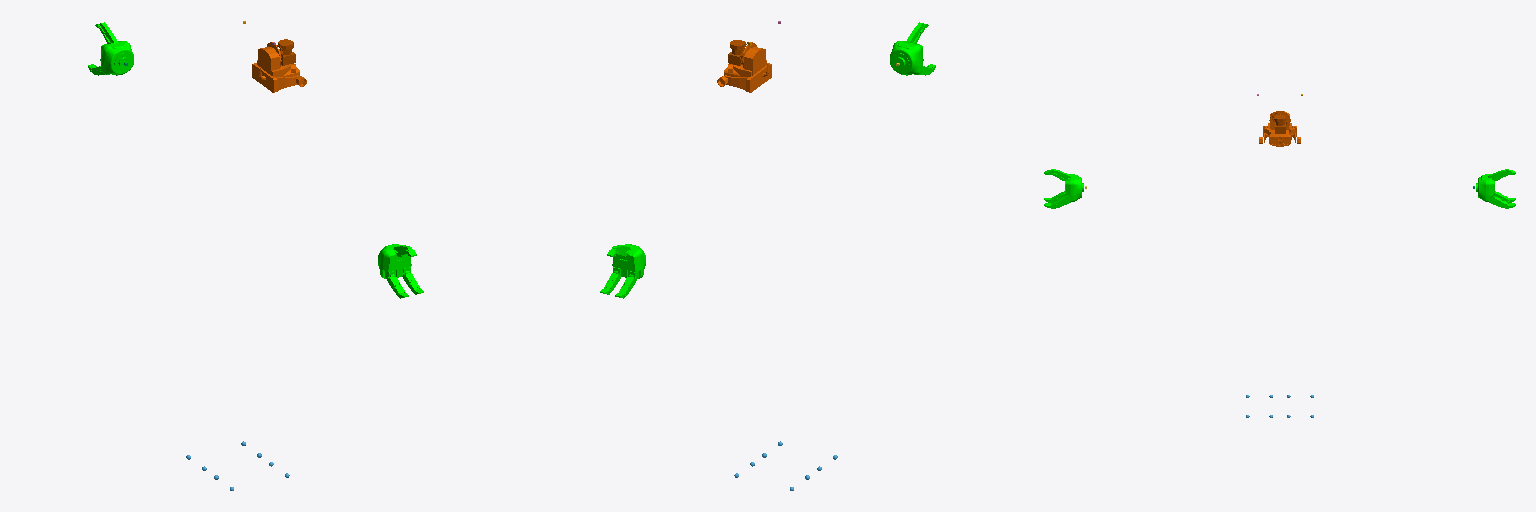
--- Render facts (derived) ---
The picture shows the robot from 3 angles, left to right: view 1: azimuth 30°, elevation 25°; view 2: azimuth 150°, elevation 25°; view 3: azimuth 270°, elevation 25°; orthographic projection.
Model atlas with 94 links and 93 joints (30 revolute, 63 fixed), rooted at pelvis, posed every joint at zero.
Visible links, largest first — view 1: head, left_palm, right_palm; view 2: head, right_palm, left_palm; view 3: head.
Link boxes in pixels (box(x1,y1,x2,y2)): head: box(252, 42, 306, 92); left_palm: box(100, 41, 133, 75); right_palm: box(378, 244, 411, 278); head: box(717, 42, 771, 92); right_palm: box(890, 41, 923, 75); left_palm: box(612, 244, 645, 278); head: box(1259, 111, 1300, 146).
Size in the robot's own frame: 0.3996 by 2.59 by 1.95 metres.
Meshes: 29 distinct files referenced, 28 mesh visuals loaded (7 OBJ); not drawn: 28 (reference not matched to a file when rendering).

The robot description file, URDF, robot "atlas":
<?xml version="1.0" ?>
<!-- =================================================================================== -->
<!-- |    This document was autogenerated by xacro from atlas_v5_convex_hull_fingers.xacro | -->
<!-- |    EDITING THIS FILE BY HAND IS NOT RECOMMENDED                                 | -->
<!-- =================================================================================== -->
<robot name="atlas" xmlns:xacro="http://ros.org/wiki/xacro">
  <link name="l_clav">
    <inertial>
      <mass value="4.466"/>
      <origin rpy="0 0 0" xyz="0 0 -0.084"/>
      <inertia ixx="0.011" ixy="0" ixz="0" iyy="0.009" iyz="0.004" izz="0.004"/>
    </inertial>
    <visual>
      <geometry>
        <mesh filename="package://atlas_v5/meshes/r_clav.obj"/>
      </geometry>
    </visual>
    <collision>
      <geometry>
        <mesh filename="package://atlas_v5/meshes/r_clav.obj"/>
      </geometry>
    </collision>
  </link>
  <link name="l_foot">
    <inertial>
      <mass value="2.410"/>
      <origin rpy="0 0 0" xyz="0.027 0 -0.067"/>
      <inertia ixx="0.002" ixy="0" ixz="0" iyy="0.007" iyz="0" izz="0.008"/>
    </inertial>
    <visual>
      <geometry>
        <mesh filename="package://atlas_v5/meshes/l_foot.obj"/>
      </geometry>
    </visual>
    <collision>
      <geometry>
        <mesh filename="package://atlas_v5/meshes/l_foot.obj"/>
      </geometry>
    </collision>
    <collision group="heel">
      <origin rpy="0 0 0" xyz="-0.0876 0.066 -0.07645"/>
      <geometry>
        <sphere radius="0.0"/>
      </geometry>
    </collision>
    <visual group="heel">
      <origin rpy="0 0 0" xyz="-0.0876 0.066 -0.07645"/>
      <geometry>
        <sphere radius="0.01"/>
      </geometry>
    </visual>
    <collision group="heel">
      <origin rpy="0 0 0" xyz="-0.0876 -0.0626 -0.07645"/>
      <geometry>
        <sphere radius="0.0"/>
      </geometry>
    </collision>
    <visual group="heel">
      <origin rpy="0 0 0" xyz="-0.0876 -0.0626 -0.07645"/>
      <geometry>
        <sphere radius="0.01"/>
      </geometry>
    </visual>
    <collision group="toe">
      <origin rpy="0 0 0" xyz="0.1728 0.066 -0.07645"/>
      <geometry>
        <sphere radius="0.0"/>
      </geometry>
    </collision>
    <visual group="toe">
      <origin rpy="0 0 0" xyz="0.1728 0.066 -0.07645"/>
      <geometry>
        <sphere radius="0.01"/>
      </geometry>
    </visual>
    <collision group="toe">
      <origin rpy="0 0 0" xyz="0.1728 -0.0626 -0.07645"/>
      <geometry>
        <sphere radius="0.0"/>
      </geometry>
    </collision>
    <visual group="toe">
      <origin rpy="0 0 0" xyz="0.1728 -0.0626 -0.07645"/>
      <geometry>
        <sphere radius="0.01"/>
      </geometry>
    </visual>
  </link>
  <link name="l_hand">
    <inertial>
      <mass value="0.5839"/>
      <origin rpy="0 0 0" xyz="0.00016 -0.08159 0.00002"/>
      <inertia ixx="0.000388" ixy="0" ixz="0" iyy="0.000477" iyz="0" izz="0.000379"/>
    </inertial>
  </link>
  <link name="l_larm">
    <inertial>
      <mass value="3.248"/>
      <origin rpy="0 0 0" xyz="0 0 0"/>
      <inertia ixx="0.00265" ixy="0" ixz="0" iyy="0.00446" iyz="0" izz="0.00446"/>
    </inertial>
    <visual>
      <geometry>
        <mesh filename="package://atlas_v5/meshes/r_larm.obj"/>
      </geometry>
    </visual>
    <collision>
      <geometry>
        <mesh filename="package://atlas_v5/meshes/r_larm.obj"/>
      </geometry>
    </collision>
  </link>
  <link name="l_lfarm">
    <inertial>
      <mass value="0.648"/>
      <origin rpy="0 0 0" xyz="0.00017 -0.02515 0.00163"/>
      <inertia ixx="0.000764" ixy="0" ixz="0" iyy="0.000429" iyz="0" izz="0.000825"/>
    </inertial>
    <visual>
      <geometry>
        <mesh filename="package://atlas_v5/meshes/r_hand.obj"/>
      </geometry>
    </visual>
    <collision>
      <geometry>
        <mesh filename="package://atlas_v5/meshes/r_hand.obj"/>
      </geometry>
    </collision>
  </link>
  <link name="l_lglut">
    <inertial>
      <mass value="0.898"/>
      <origin rpy="0 0 0" xyz="0.0133341 0.0170484 -0.0312052"/>
      <inertia ixx="0.000691326" ixy="-2.24344e-05" ixz="2.50508e-06" iyy="0.00126856" iyz="0.000137862" izz="0.00106487"/>
    </inertial>
    <visual>
      <geometry>
        <mesh filename="package://atlas_v5/meshes/l_lglut.obj"/>
      </geometry>
    </visual>
    <collision>
      <geometry>
        <mesh filename="package://atlas_v5/meshes/l_lglut.obj"/>
      </geometry>
    </collision>
  </link>
  <link name="l_lleg">
    <inertial>
      <mass value="4.515"/>
      <origin rpy="0 0 0" xyz="0.001 0 -0.187"/>
      <inertia ixx="0.077" ixy="0" ixz="-0.003" iyy="0.076" iyz="0" izz="0.01"/>
    </inertial>
    <visual>
      <geometry>
        <mesh filename="package://atlas_v5/meshes/l_lleg.obj"/>
      </geometry>
    </visual>
    <collision>
      <geometry>
        <mesh filename="package://atlas_v5/meshes/l_lleg.obj"/>
      </geometry>
    </collision>
  </link>
  <link name="l_scap">
    <inertial>
      <mass value="3.899"/>
      <origin rpy="0 0 0" xyz="0 0 0"/>
      <inertia ixx="0.00319" ixy="0" ixz="0" iyy="0.00583" iyz="0" izz="0.00583"/>
    </inertial>
    <visual>
      <geometry>
        <mesh filename="package://atlas_v5/meshes/r_scap.obj"/>
      </geometry>
    </visual>
    <collision>
      <geometry>
        <mesh filename="package://atlas_v5/meshes/r_scap.obj"/>
      </geometry>
    </collision>
  </link>
  <link name="l_talus">
    <inertial>
      <mass value="0.125"/>
      <origin rpy="0 0 0" xyz="0 0 0"/>
      <inertia ixx="1.01674e-05" ixy="0" ixz="0" iyy="8.42775e-06" iyz="0" izz="1.30101e-05"/>
    </inertial>
    <visual>
      <geometry>
        <mesh filename="package://atlas_v5/meshes/l_talus.obj"/>
      </geometry>
    </visual>
  </link>
  <link name="l_uarm">
    <inertial>
      <mass value="4.386"/>
      <origin rpy="0 0 0" xyz="0 0.065 0"/>
      <inertia ixx="0.00656" ixy="0" ixz="0" iyy="0.00358" iyz="0" izz="0.00656"/>
    </inertial>
    <visual>
      <geometry>
        <mesh filename="package://atlas_v5/meshes/r_uarm.obj"/>
      </geometry>
    </visual>
    <collision>
      <geometry>
        <mesh filename="package://atlas_v5/meshes/r_uarm.obj"/>
      </geometry>
    </collision>
  </link>
  <link name="l_ufarm">
    <inertial>
      <mass value="2.4798"/>
      <origin rpy="0 0 0" xyz="0.00015 0.08296 0.00037"/>
      <inertia ixx="0.012731" ixy="0" ixz="0" iyy="0.002857" iyz="0" izz="0.011948"/>
    </inertial>
    <visual>
      <geometry>
        <mesh filename="package://atlas_v5/meshes/r_farm.obj"/>
      </geometry>
    </visual>
    <collision>
      <geometry>
        <mesh filename="package://atlas_v5/meshes/r_farm.obj"/>
      </geometry>
    </collision>
  </link>
  <link name="l_uglut">
    <inertial>
      <mass value="1.959"/>
      <origin rpy="0 0 0" xyz="0.00529262 -0.00344732 0.00313046"/>
      <inertia ixx="0.00074276" ixy="-3.79607e-08" ixz="-2.79549e-05" iyy="0.000688179" iyz="-3.2735e-08" izz="0.00041242"/>
    </inertial>
    <visual>
      <geometry>
        <mesh filename="package://atlas_v5/meshes/l_uglut.obj"/>
      </geometry>
    </visual>
    <collision>
      <geometry>
        <mesh filename="package://atlas_v5/meshes/l_uglut.obj"/>
      </geometry>
    </collision>
  </link>
  <link name="l_uleg">
    <inertial>
      <mass value="8.204"/>
      <origin rpy="0 0 0" xyz="0 0 -0.21"/>
      <inertia ixx="0.09" ixy="0" ixz="0" iyy="0.09" iyz="0" izz="0.02"/>
    </inertial>
    <visual>
      <geometry>
        <mesh filename="package://atlas_v5/meshes/l_uleg.obj"/>
      </geometry>
    </visual>
    <!-- to cover the logo shield -->
    <!-- inside strut -->
    <!-- outside strut -->
    <collision>
      <geometry>
        <mesh filename="package://atlas_v5/meshes/l_uleg.obj"/>
      </geometry>
    </collision>
  </link>
  <link name="ltorso">
    <inertial>
      <mass value="2.270"/>
      <origin rpy="0 0 0" xyz="-0.0112984 -3.15366e-06 0.0746835"/>
      <inertia ixx="0.0039092" ixy="-5.04491e-08" ixz="-0.000342157" iyy="0.00341694" iyz="4.87119e-07" izz="0.00174492"/>
    </inertial>
    <visual>
      <geometry>
        <mesh filename="package://atlas_v5/meshes/ltorso.obj"/>
      </geometry>
    </visual>
  </link>
  <link name="mtorso">
    <inertial>
      <mass value="0.799"/>
      <origin rpy="0 0 0" xyz="-0.00816266 -0.0131245 0.0305974"/>
      <inertia ixx="0.000454181" ixy="-6.10764e-05" ixz="3.94009e-05" iyy="0.000483282" iyz="5.27463e-05" izz="0.000444215"/>
    </inertial>
    <visual>
      <geometry>
        <mesh filename="package://atlas_v5/meshes/mtorso.obj"/>
      </geometry>
    </visual>
  </link>
  <link name="pelvis">
    <inertial>
      <mass value="9.509"/>
      <origin rpy="0 0 0" xyz="0.0111 0 0.0271"/>
      <inertia ixx="0.1244" ixy="0.0008" ixz="-0.0007" iyy="0.0958" iyz="-0.0005" izz="0.1167"/>
    </inertial>
    <visual>
      <geometry>
        <mesh filename="package://atlas_v5/meshes/pelvis.obj"/>
      </geometry>
    </visual>
    <collision>
      <geometry>
        <mesh filename="package://atlas_v5/meshes/pelvis.obj"/>
      </geometry>
    </collision>
  </link>
  <link name="r_clav">
    <inertial>
      <mass value="4.466"/>
      <origin rpy="0 0 0" xyz="0 0 -0.084"/>
      <inertia ixx="0.011" ixy="0" ixz="0" iyy="0.009" iyz="0.004" izz="0.004"/>
    </inertial>
    <visual>
      <geometry>
        <mesh filename="package://atlas_v5/meshes/r_clav.obj"/>
      </geometry>
    </visual>
    <collision>
      <geometry>
        <mesh filename="package://atlas_v5/meshes/r_clav.obj"/>
      </geometry>
    </collision>
  </link>
  <link name="r_foot">
    <inertial>
      <mass value="2.41"/>
      <origin rpy="0 0 0" xyz="0.027 0 -0.067"/>
      <inertia ixx="0.002" ixy="0" ixz="0" iyy="0.007" iyz="0" izz="0.008"/>
    </inertial>
    <visual>
      <geometry>
        <mesh filename="package://atlas_v5/meshes/r_foot.obj"/>
      </geometry>
    </visual>
    <collision>
      <geometry>
        <mesh filename="package://atlas_v5/meshes/r_foot.obj"/>
      </geometry>
    </collision>
    <collision group="heel">
      <origin rpy="0 0 0" xyz="-0.0876 0.0626 -0.07645"/>
      <geometry>
        <sphere radius="0.0"/>
      </geometry>
    </collision>
    <visual group="heel">
      <origin rpy="0 0 0" xyz="-0.0876 0.0626 -0.07645"/>
      <geometry>
        <sphere radius="0.01"/>
      </geometry>
    </visual>
    <collision group="heel">
      <origin rpy="0 0 0" xyz="-0.0876 -0.066 -0.07645"/>
      <geometry>
        <sphere radius="0.0"/>
      </geometry>
    </collision>
    <visual group="heel">
      <origin rpy="0 0 0" xyz="-0.0876 -0.066 -0.07645"/>
      <geometry>
        <sphere radius="0.01"/>
      </geometry>
    </visual>
    <collision group="toe">
      <origin rpy="0 0 0" xyz="0.1728 0.0626 -0.07645"/>
      <geometry>
        <sphere radius="0.0"/>
      </geometry>
    </collision>
    <visual group="toe">
      <origin rpy="0 0 0" xyz="0.1728 0.0626 -0.07645"/>
      <geometry>
        <sphere radius="0.01"/>
      </geometry>
    </visual>
    <collision group="toe">
      <origin rpy="0 0 0" xyz="0.1728 -0.066 -0.07645"/>
      <geometry>
        <sphere radius="0.0"/>
      </geometry>
    </collision>
    <visual group="toe">
      <origin rpy="0 0 0" xyz="0.1728 -0.066 -0.07645"/>
      <geometry>
        <sphere radius="0.01"/>
      </geometry>
    </visual>
  </link>
  <link name="r_hand">
    <inertial>
      <mass value="0.5839"/>
      <origin rpy="0 0 0" xyz="0.00016 -0.08159 0.00002"/>
      <inertia ixx="0.000388" ixy="0" ixz="0" iyy="0.000477" iyz="0" izz="0.000379"/>
    </inertial>
  </link>
  <link name="r_larm">
    <inertial>
      <mass value="3.248"/>
      <origin rpy="0 0 0" xyz="0 0 0"/>
      <inertia ixx="0.00265" ixy="0" ixz="0" iyy="0.00446" iyz="0" izz="0.00446"/>
    </inertial>
    <visual>
      <geometry>
        <mesh filename="package://atlas_v5/meshes/r_larm.obj"/>
      </geometry>
    </visual>
    <collision>
      <geometry>
        <mesh filename="package://atlas_v5/meshes/r_larm.obj"/>
      </geometry>
    </collision>
  </link>
  <link name="r_lfarm">
    <inertial>
      <mass value="0.648"/>
      <origin rpy="0 0 0" xyz="0.00017 -0.02515 0.00163"/>
      <inertia ixx="0.000764" ixy="0" ixz="0" iyy="0.000429" iyz="0" izz="0.000825"/>
    </inertial>
    <visual>
      <geometry>
        <mesh filename="package://atlas_v5/meshes/r_hand.obj"/>
      </geometry>
    </visual>
    <collision>
      <geometry>
        <mesh filename="package://atlas_v5/meshes/r_hand.obj"/>
      </geometry>
    </collision>
  </link>
  <link name="r_lglut">
    <inertial>
      <mass value="0.898"/>
      <origin rpy="0 0 0" xyz="0.0133341 -0.0170484 -0.0312052"/>
      <inertia ixx="0.000691326" ixy="2.24344e-05" ixz="2.50508e-06" iyy="0.00126856" iyz="-0.000137862" izz="0.00106487"/>
    </inertial>
    <visual>
      <geometry>
        <mesh filename="package://atlas_v5/meshes/r_lglut.obj"/>
      </geometry>
    </visual>
    <collision>
      <geometry>
        <mesh filename="package://atlas_v5/meshes/r_lglut.obj"/>
      </geometry>
    </collision>
  </link>
  <link name="r_lleg">
    <inertial>
      <mass value="4.515"/>
      <origin rpy="0 0 0" xyz="0.001 0 -0.187"/>
      <inertia ixx="0.077" ixy="-0" ixz="-0.003" iyy="0.076" iyz="-0" izz="0.01"/>
    </inertial>
    <visual>
      <geometry>
        <mesh filename="package://atlas_v5/meshes/r_lleg.obj"/>
      </geometry>
    </visual>
    <collision>
      <geometry>
        <mesh filename="package://atlas_v5/meshes/r_lleg.obj"/>
      </geometry>
    </collision>
  </link>
  <link name="r_scap">
    <inertial>
      <mass value="3.899"/>
      <origin rpy="0 0 0" xyz="0 0 0"/>
      <inertia ixx="0.00319" ixy="0" ixz="0" iyy="0.00583" iyz="0" izz="0.00583"/>
    </inertial>
    <visual>
      <geometry>
        <mesh filename="package://atlas_v5/meshes/r_scap.obj"/>
      </geometry>
    </visual>
    <collision>
      <geometry>
        <mesh filename="package://atlas_v5/meshes/r_scap.obj"/>
      </geometry>
    </collision>
  </link>
  <link name="r_talus">
    <inertial>
      <mass value="0.125"/>
      <origin rpy="0 0 0" xyz="0 0 0"/>
      <inertia ixx="1.01674e-05" ixy="0" ixz="0" iyy="8.42775e-06" iyz="0" izz="1.30101e-05"/>
    </inertial>
    <visual>
      <geometry>
        <mesh filename="package://atlas_v5/meshes/r_talus.obj"/>
      </geometry>
    </visual>
  </link>
  <link name="r_uarm">
    <inertial>
      <mass value="4.386"/>
      <origin rpy="0 0 0" xyz="0 0.065 0"/>
      <inertia ixx="0.00656" ixy="0" ixz="0" iyy="0.00358" iyz="0" izz="0.00656"/>
    </inertial>
    <visual>
      <geometry>
        <mesh filename="package://atlas_v5/meshes/r_uarm.obj"/>
      </geometry>
    </visual>
    <collision>
      <geometry>
        <mesh filename="package://atlas_v5/meshes/r_uarm.obj"/>
      </geometry>
    </collision>
  </link>
  <link name="r_ufarm">
    <inertial>
      <mass value="2.4798"/>
      <origin rpy="0 0 0" xyz="0.00015 0.08296 0.00037"/>
      <inertia ixx="0.012731" ixy="0" ixz="0" iyy="0.002857" iyz="0" izz="0.011948"/>
    </inertial>
    <visual>
      <geometry>
        <mesh filename="package://atlas_v5/meshes/r_farm.obj"/>
      </geometry>
    </visual>
    <collision>
      <geometry>
        <mesh filename="package://atlas_v5/meshes/r_farm.obj"/>
      </geometry>
    </collision>
  </link>
  <link name="r_uglut">
    <inertial>
      <mass value="1.959"/>
      <origin rpy="0 0 0" xyz="0.00529262 0.00344732 0.00313046"/>
      <inertia ixx="0.00074276" ixy="3.79607e-08" ixz="-2.79549e-05" iyy="0.000688179" iyz="3.2735e-08" izz="0.00041242"/>
    </inertial>
    <visual>
      <geometry>
        <mesh filename="package://atlas_v5/meshes/r_uglut.obj"/>
      </geometry>
    </visual>
    <collision>
      <geometry>
        <mesh filename="package://atlas_v5/meshes/r_uglut.obj"/>
      </geometry>
    </collision>
  </link>
  <link name="r_uleg">
    <inertial>
      <mass value="8.204"/>
      <origin rpy="0 0 0" xyz="0 0 -0.21"/>
      <inertia ixx="0.09" ixy="0" ixz="0" iyy="0.09" iyz="0" izz="0.02"/>
    </inertial>
    <visual>
      <geometry>
        <mesh filename="package://atlas_v5/meshes/r_uleg.obj"/>
      </geometry>
    </visual>
    <!-- to cover the logo shield -->
    <!-- inside strut -->
    <!-- outside strut -->
    <collision>
      <geometry>
        <mesh filename="package://atlas_v5/meshes/r_uleg.obj"/>
      </geometry>
    </collision>
  </link>
  <link name="utorso">
    <inertial>
      <mass value="84.409"/>
      <origin rpy="0 0 0" xyz="-0.0622 0.0023 0.3157"/>
      <inertia ixx="1.577" ixy="-0.032" ixz="0.102" iyy="1.602" iyz="0.047" izz="0.565"/>
    </inertial>
    <visual>
      <geometry>
        <mesh filename="package://atlas_v5/meshes/utorso.obj"/>
      </geometry>
    </visual>
    <collision>
      <geometry>
        <mesh filename="package://atlas_v5/meshes/utorso.obj"/>
      </geometry>
    </collision>
  </link>
  <joint name="back_bkx" type="revolute">
    <origin rpy="0 0 0" xyz="0 0 0.05"/>
    <axis xyz="1 0 0"/>
    <parent link="mtorso"/>
    <child link="utorso"/>
    <dynamics damping="0.1" friction="0"/>
    <limit effort="300" lower="-0.523599" upper="0.523599" velocity="12"/>
    <safety_controller k_position="100" k_velocity="100" soft_lower_limit="-10.5236" soft_upper_limit="10.5236"/>
  </joint>
  <joint name="back_bky" type="revolute">
    <origin rpy="0 0 0" xyz="0 0 0.162"/>
    <axis xyz="0 1 0"/>
    <parent link="ltorso"/>
    <child link="mtorso"/>
    <dynamics damping="0.1" friction="0"/>
    <limit effort="445" lower="-0.219388" upper="0.538783" velocity="9"/>
    <safety_controller k_position="100" k_velocity="100" soft_lower_limit="-10.2194" soft_upper_limit="10.5388"/>
  </joint>
  <joint name="back_bkz" type="revolute">
    <origin rpy="0 0 0" xyz="-0.0125 0 0"/>
    <axis xyz="0 0 1"/>
    <parent link="pelvis"/>
    <child link="ltorso"/>
    <dynamics damping="0.1" friction="0"/>
    <limit effort="106" lower="-0.663225" upper="0.663225" velocity="12"/>
    <safety_controller k_position="100" k_velocity="100" soft_lower_limit="-10.6632" soft_upper_limit="10.6632"/>
  </joint>
  <joint name="l_arm_elx" type="revolute">
    <origin rpy="0 0 0" xyz="0 -0.119 0.0092"/>
    <axis xyz="-1.0 -0.0 -0.0"/>
    <parent link="l_uarm"/>
    <child link="l_larm"/>
    <dynamics damping="0.1" friction="0"/>
    <limit effort="112" lower="0" upper="2.35619" velocity="12"/>
    <safety_controller k_position="100" k_velocity="100" soft_lower_limit="-10" soft_upper_limit="12.3562"/>
  </joint>
  <joint name="l_arm_ely" type="revolute">
    <origin rpy="0 0 0" xyz="0 -0.187 -0.016"/>
    <axis xyz="-0.0 -1.0 -0.0"/>
    <parent link="l_scap"/>
    <child link="l_uarm"/>
    <dynamics damping="0.1" friction="0"/>
    <limit effort="63" lower="0" upper="3.14159" velocity="12"/>
    <safety_controller k_position="100" k_velocity="100" soft_lower_limit="-10" soft_upper_limit="13.1416"/>
  </joint>
  <joint name="l_arm_shx" type="revolute">
    <origin rpy="0 0 0" xyz="0 -0.11 -0.245"/>
    <axis xyz="-1.0 -0.0 -0.0"/>
    <parent link="l_clav"/>
    <child link="l_scap"/>
    <dynamics damping="0.1" friction="0"/>
    <limit effort="99" lower="-1.5708" upper="1.5708" velocity="12"/>
    <safety_controller k_position="100" k_velocity="100" soft_lower_limit="-11.5708" soft_upper_limit="11.5708"/>
  </joint>
  <joint name="l_arm_shz" type="revolute">
    <origin rpy="0 0 3.14159265359" xyz="0.1406 0.2256 0.4776"/>
    <axis xyz="0 0 1"/>
    <parent link="utorso"/>
    <child link="l_clav"/>
    <dynamics damping="0.1" friction="0"/>
    <limit effort="87" lower="-1.5708" upper="0.785398" velocity="12"/>
    <safety_controller k_position="100" k_velocity="100" soft_lower_limit="-11.5708" soft_upper_limit="10.7854"/>
  </joint>
  <joint name="l_arm_mwx" type="revolute">
    <origin rpy="0 0 0" xyz="0 0 0"/>
    <axis xyz="1 0 0"/>
    <parent link="l_ufarm"/>
    <child link="l_lfarm"/>
    <dynamics damping="0.1" friction="0"/>
    <limit effort="25" lower="-1.7628" upper="1.7628" velocity="10"/>
    <safety_controller k_position="100" k_velocity="100" soft_lower_limit="-11.7628" soft_upper_limit="11.7628"/>
  </joint>
  <joint name="l_arm_uwy" type="revolute">
    <origin rpy="0 3.14159265359 0" xyz="0 -0.29955 -0.00921"/>
    <axis xyz="-0.0 -1.0 -0.0"/>
    <parent link="l_larm"/>
    <child link="l_ufarm"/>
    <dynamics damping="0.1" friction="0"/>
    <limit effort="25" lower="-3.011" upper="3.011" velocity="10"/>
    <safety_controller k_position="100" k_velocity="100" soft_lower_limit="-13.011" soft_upper_limit="13.011"/>
  </joint>
  <joint name="l_arm_lwy" type="revolute">
    <origin rpy="0 3.14159265359 0" xyz="0 0 0"/>
    <axis xyz="-0.0 -1.0 -0.0"/>
    <parent link="l_lfarm"/>
    <child link="l_hand"/>
    <dynamics damping="0.1" friction="0"/>
    <limit effort="25" lower="-2.9671" upper="2.9671" velocity="10"/>
    <safety_controller k_position="100" k_velocity="100" soft_lower_limit="-12.9671" soft_upper_limit="12.9671"/>
  </joint>
  <joint name="l_leg_akx" type="revolute">
    <origin rpy="0 0 0" xyz="0 0 0"/>
    <axis xyz="1 0 0"/>
    <parent link="l_talus"/>
    <child link="l_foot"/>
    <dynamics damping="0.1" friction="0"/>
    <limit effort="360" lower="-0.8" upper="0.8" velocity="12"/>
    <safety_controller k_position="100" k_velocity="100" soft_lower_limit="-10.8" soft_upper_limit="10.8"/>
  </joint>
  <joint name="l_leg_aky" type="revolute">
    <origin rpy="0 0 0" xyz="0 0 -0.422"/>
    <axis xyz="0 1 0"/>
    <parent link="l_lleg"/>
    <child link="l_talus"/>
    <dynamics damping="0.1" friction="0"/>
    <limit effort="740" lower="-1" upper="0.7" velocity="12"/>
    <safety_controller k_position="100" k_velocity="100" soft_lower_limit="-11" soft_upper_limit="10.7"/>
  </joint>
  <joint name="l_leg_hpx" type="revolute">
    <origin rpy="0 0 0" xyz="0 0 0"/>
    <axis xyz="1 0 0"/>
    <parent link="l_uglut"/>
    <child link="l_lglut"/>
    <dynamics damping="0.1" friction="0"/>
    <limit effort="530" lower="-0.523599" upper="0.523599" velocity="12"/>
    <safety_controller k_position="100" k_velocity="100" soft_lower_limit="-10.5236" soft_upper_limit="10.5236"/>
  </joint>
  <joint name="l_leg_hpy" type="revolute">
    <origin rpy="0 0 0" xyz="0.05 0.0225 -0.066"/>
    <axis xyz="0 1 0"/>
    <parent link="l_lglut"/>
    <child link="l_uleg"/>
    <dynamics damping="0.1" friction="0"/>
    <limit effort="840" lower="-1.61234" upper="0.65764" velocity="12"/>
    <safety_controller k_position="100" k_velocity="100" soft_lower_limit="-11.6123" soft_upper_limit="10.6576"/>
  </joint>
  <joint name="l_leg_hpz" type="revolute">
    <origin rpy="0 0 0" xyz="0 0.089 0"/>
    <axis xyz="0 0 1"/>
    <parent link="pelvis"/>
    <child link="l_uglut"/>
    <dynamics damping="0.1" friction="0"/>
    <limit effort="275" lower="-0.174358" upper="0.786794" velocity="12"/>
    <safety_controller k_position="100" k_velocity="100" soft_lower_limit="-10.1744" soft_upper_limit="10.7868"/>
  </joint>
  <joint name="l_leg_kny" type="revolute">
    <origin rpy="0 0 0" xyz="-0.05 0 -0.374"/>
    <axis xyz="0 1 0"/>
    <parent link="l_uleg"/>
    <child link="l_lleg"/>
    <dynamics damping="0.1" friction="0"/>
    <limit effort="890" lower="0" upper="2.35637" velocity="12"/>
    <safety_controller k_position="100" k_velocity="100" soft_lower_limit="-10" soft_upper_limit="12.3564"/>
  </joint>
  <joint name="neck_ay" type="revolute">
    <origin rpy="0 0 0" xyz="0.2946 0 0.5765"/>
    <axis xyz="0 1 0"/>
    <parent link="utorso"/>
    <child link="head"/>
    <dynamics damping="0.1" friction="0"/>
    <limit effort="25" lower="-0.602139" upper="1.14319" velocity="6.28"/>
    <safety_controller k_position="100" k_velocity="100" soft_lower_limit="-10.6021" soft_upper_limit="11.1432"/>
  </joint>
  <joint name="r_arm_elx" type="revolute">
    <origin rpy="0 0 0" xyz="0 -0.119 0.0092"/>
    <axis xyz="1 0 0"/>
    <parent link="r_uarm"/>
    <child link="r_larm"/>
    <dynamics damping="0.1" friction="0"/>
    <limit effort="112" lower="-2.35619" upper="0" velocity="12"/>
    <safety_controller k_position="100" k_velocity="100" soft_lower_limit="-12.3562" soft_upper_limit="10"/>
  </joint>
  <joint name="r_arm_ely" type="revolute">
    <origin rpy="0 0 0" xyz="0 -0.187 -0.016"/>
    <axis xyz="0 1 0"/>
    <parent link="r_scap"/>
    <child link="r_uarm"/>
    <dynamics damping="0.1" friction="0"/>
    <limit effort="63" lower="0" upper="3.14159" velocity="12"/>
    <safety_controller k_position="100" k_velocity="100" soft_lower_limit="-10" soft_upper_limit="13.1416"/>
  </joint>
  <joint name="r_arm_shx" type="revolute">
    <origin rpy="0 0 0" xyz="0 -0.11 -0.245"/>
    <axis xyz="1 0 0"/>
    <parent link="r_clav"/>
    <child link="r_scap"/>
    <dynamics damping="0.1" friction="0"/>
    <limit effort="99" lower="-1.5708" upper="1.5708" velocity="12"/>
    <safety_controller k_position="100" k_velocity="100" soft_lower_limit="-11.5708" soft_upper_limit="11.5708"/>
  </joint>
  <joint name="r_arm_shz" type="revolute">
    <origin rpy="0 0 0" xyz="0.1406 -0.2256 0.4776"/>
    <axis xyz="0 0 1"/>
    <parent link="utorso"/>
    <child link="r_clav"/>
    <dynamics damping="0.1" friction="0"/>
    <limit effort="87" lower="-0.785398" upper="1.5708" velocity="12"/>
    <safety_controller k_position="100" k_velocity="100" soft_lower_limit="-10.7854" soft_upper_limit="11.5708"/>
  </joint>
  <joint name="r_arm_mwx" type="revolute">
    <origin rpy="0 0 0" xyz="0 0 0"/>
    <axis xyz="1 0 0"/>
    <parent link="r_ufarm"/>
    <child link="r_lfarm"/>
    <dynamics damping="0.1" friction="0"/>
    <limit effort="25" lower="-1.7628" upper="1.7628" velocity="10"/>
    <safety_controller k_position="100" k_velocity="100" soft_lower_limit="-11.7628" soft_upper_limit="11.7628"/>
  </joint>
  <joint name="r_arm_uwy" type="revolute">
    <origin rpy="0 0 0" xyz="0 -0.29955 -0.00921"/>
    <axis xyz="0 1 0"/>
    <parent link="r_larm"/>
    <child link="r_ufarm"/>
    <dynamics damping="0.1" friction="0"/>
    <limit effort="25" lower="-3.011" upper="3.011" velocity="10"/>
    <safety_controller k_position="100" k_velocity="100" soft_lower_limit="-13.011" soft_upper_limit="13.011"/>
  </joint>
  <joint name="r_arm_lwy" type="revolute">
    <origin rpy="0 0 0" xyz="0 0 0"/>
    <axis xyz="0 1 0"/>
    <parent link="r_lfarm"/>
    <child link="r_hand"/>
    <dynamics damping="0.1" friction="0"/>
    <limit effort="25" lower="-2.9671" upper="2.9671" velocity="10"/>
    <safety_controller k_position="100" k_velocity="100" soft_lower_limit="-12.9671" soft_upper_limit="12.9671"/>
  </joint>
  <joint name="r_leg_akx" type="revolute">
    <origin rpy="0 0 0" xyz="0 0 0"/>
    <axis xyz="1 0 0"/>
    <parent link="r_talus"/>
    <child link="r_foot"/>
    <dynamics damping="0.1" friction="0"/>
    <limit effort="360" lower="-0.8" upper="0.8" velocity="12"/>
    <safety_controller k_position="100" k_velocity="100" soft_lower_limit="-10.8" soft_upper_limit="10.8"/>
  </joint>
  <joint name="r_leg_aky" type="revolute">
    <origin rpy="0 0 0" xyz="0 0 -0.422"/>
    <axis xyz="0 1 0"/>
    <parent link="r_lleg"/>
    <child link="r_talus"/>
    <dynamics damping="0.1" friction="0"/>
    <limit effort="740" lower="-1" upper="0.7" velocity="12"/>
    <safety_controller k_position="100" k_velocity="100" soft_lower_limit="-11" soft_upper_limit="10.7"/>
  </joint>
  <joint name="r_leg_hpx" type="revolute">
    <origin rpy="0 0 0" xyz="0 0 0"/>
    <axis xyz="1 0 0"/>
    <parent link="r_uglut"/>
    <child link="r_lglut"/>
    <dynamics damping="0.1" friction="0"/>
    <limit effort="530" lower="-0.523599" upper="0.523599" velocity="12"/>
    <safety_controller k_position="100" k_velocity="100" soft_lower_limit="-10.5236" soft_upper_limit="10.5236"/>
  </joint>
  <joint name="r_leg_hpy" type="revolute">
    <origin rpy="0 0 0" xyz="0.05 -0.0225 -0.066"/>
    <axis xyz="0 1 0"/>
    <parent link="r_lglut"/>
    <child link="r_uleg"/>
    <dynamics damping="0.1" friction="0"/>
    <limit effort="840" lower="-1.61234" upper="0.65764" velocity="12"/>
    <safety_controller k_position="100" k_velocity="100" soft_lower_limit="-11.6123" soft_upper_limit="10.6576"/>
  </joint>
  <joint name="r_leg_hpz" type="revolute">
    <origin rpy="0 0 0" xyz="0 -0.089 0"/>
    <axis xyz="0 0 1"/>
    <parent link="pelvis"/>
    <child link="r_uglut"/>
    <dynamics damping="0.1" friction="0"/>
    <limit effort="275" lower="-0.786794" upper="0.174358" velocity="12"/>
    <safety_controller k_position="100" k_velocity="100" soft_lower_limit="-10.7868" soft_upper_limit="10.1744"/>
  </joint>
  <joint name="r_leg_kny" type="revolute">
    <origin rpy="0 0 0" xyz="-0.05 0 -0.374"/>
    <axis xyz="0 1 0"/>
    <parent link="r_uleg"/>
    <child link="r_lleg"/>
    <dynamics damping="0.1" friction="0"/>
    <limit effort="890" lower="0" upper="2.35637" velocity="12"/>
    <safety_controller k_position="100" k_velocity="100" soft_lower_limit="-10" soft_upper_limit="12.3564"/>
  </joint>
  <link name="r_situational_awareness_camera_link">
    <inertial>
      <mass value="0.1"/>
      <origin xyz="0 0 0"/>
      <inertia ixx="0.00001" ixy="0" ixz="0" iyy="0.00001" iyz="0" izz="0.00001"/>
    </inertial>
    <visual>
      <origin rpy="0 0 0" xyz="0 0 0"/>
      <geometry>
        <box size="0.01 0.01 0.01"/>
      </geometry>
    </visual>
    <collision>
      <origin rpy="0 0 0" xyz="0 0 0"/>
      <geometry>
        <box size="0.01 0.01 0.01"/>
      </geometry>
    </collision>
  </link>
  <joint name="r_situational_awareness_camera_joint" type="fixed">
    <parent link="utorso"/>
    <child link="r_situational_awareness_camera_link"/>
    <!-- SA camera mounted above the multisense head -->
    <origin rpy="0 0 -1.309" xyz="0.155 -0.121 0.785"/>
  </joint>
  <joint name="r_situational_awareness_camera_optical_frame_joint" type="fixed">
    <origin rpy="-1.5708 0.0 -1.5708" xyz="0 0 0"/>
    <parent link="r_situational_awareness_camera_link"/>
    <child link="r_situational_awareness_camera_optical_frame"/>
  </joint>
  <link name="r_situational_awareness_camera_optical_frame"/>
  <link name="l_situational_awareness_camera_link">
    <inertial>
      <mass value="0.1"/>
      <origin xyz="0 0 0"/>
      <inertia ixx="0.00001" ixy="0" ixz="0" iyy="0.00001" iyz="0" izz="0.00001"/>
    </inertial>
    <visual>
      <origin rpy="0 0 0" xyz="0 0 0"/>
      <geometry>
        <box size="0.01 0.01 0.01"/>
      </geometry>
    </visual>
    <collision>
      <origin rpy="0 0 0" xyz="0 0 0"/>
      <geometry>
        <box size="0.01 0.01 0.01"/>
      </geometry>
    </collision>
  </link>
  <joint name="l_situational_awareness_camera_joint" type="fixed">
    <parent link="utorso"/>
    <child link="l_situational_awareness_camera_link"/>
    <!-- SA camera mounted above the multisense head -->
    <origin rpy="0 0 1.309" xyz="0.155 0.121 0.785"/>
  </joint>
  <joint name="l_situational_awareness_camera_optical_frame_joint" type="fixed">
    <origin rpy="-1.5708 0.0 -1.5708" xyz="0 0 0"/>
    <parent link="l_situational_awareness_camera_link"/>
    <child link="l_situational_awareness_camera_optical_frame"/>
  </joint>
  <link name="l_situational_awareness_camera_optical_frame"/>
  <frame link="l_foot" name="l_foot_sole" rpy="0 0 0" xyz="0.0426  0.0017 -0.07645"/>
  <frame link="r_foot" name="r_foot_sole" rpy="0 0 0" xyz="0.0426 -0.0017 -0.07645"/>
  <collision_filter_group name="feet">
    <member link="l_foot"/>
    <member link="r_foot"/>
    <ignored_collision_filter_group collision_filter_group="feet"/>
  </collision_filter_group>
  <collision_filter_group name="core">
    <member link="utorso"/>
    <member link="pelvis"/>
    <ignored_collision_filter_group collision_filter_group="core"/>
  </collision_filter_group>
  <collision_filter_group name="ignore_core">
    <member link="r_scap"/>
    <member link="l_scap"/>
    <member link="r_clav"/>
    <member link="l_clav"/>
    <ignored_collision_filter_group collision_filter_group="core"/>
  </collision_filter_group>
  <collision_filter_group name="r_uleg">
    <member link="r_uglut"/>
    <member link="r_lglut"/>
    <member link="r_uleg"/>
    <ignored_collision_filter_group collision_filter_group="core"/>
    <ignored_collision_filter_group collision_filter_group="r_uleg"/>
    <ignored_collision_filter_group collision_filter_group="l_uleg"/>
  </collision_filter_group>
  <collision_filter_group name="l_uleg">
    <member link="l_uglut"/>
    <member link="l_lglut"/>
    <member link="l_uleg"/>
    <ignored_collision_filter_group collision_filter_group="core"/>
    <ignored_collision_filter_group collision_filter_group="l_uleg"/>
    <ignored_collision_filter_group collision_filter_group="l_uleg"/>
  </collision_filter_group>
  <collision_filter_group name="r_leg">
    <member link="r_lleg"/>
    <member link="r_talus"/>
    <member link="r_foot"/>
    <ignored_collision_filter_group collision_filter_group="r_leg"/>
    <ignored_collision_filter_group collision_filter_group="r_uleg"/>
  </collision_filter_group>
  <collision_filter_group name="l_leg">
    <member link="l_lleg"/>
    <member link="l_talus"/>
    <member link="l_foot"/>
    <ignored_collision_filter_group collision_filter_group="l_leg"/>
    <ignored_collision_filter_group collision_filter_group="l_uleg"/>
  </collision_filter_group>
  <collision_filter_group name="r_arm">
    <member link="r_clav"/>
    <member link="r_scap"/>
    <member link="r_uarm"/>
    <member link="r_larm"/>
    <member link="r_ufarm"/>
    <member link="r_lfarm"/>
    <member link="r_hand"/>
    <ignored_collision_filter_group collision_filter_group="r_arm"/>
  </collision_filter_group>
  <collision_filter_group name="l_arm">
    <member link="l_clav"/>
    <member link="l_scap"/>
    <member link="l_uarm"/>
    <member link="l_larm"/>
    <member link="l_ufarm"/>
    <member link="l_lfarm"/>
    <member link="l_hand"/>
    <ignored_collision_filter_group collision_filter_group="l_arm"/>
  </collision_filter_group>
  <link name="head">
    <inertial>
      <origin rpy="0 0 0" xyz="-0.075493 3.3383E-05 0.02774"/>
      <mass value="1.4199"/>
      <inertia ixx="0.0039688" ixy="-1.5797E-06" ixz="-0.00089293" iyy="0.0041178" iyz="-6.8415E-07" izz="0.0035243"/>
    </inertial>
    <visual>
      <origin rpy="0 0 0" xyz="0 0 0"/>
      <geometry>
        <mesh filename="package://multisense_sl/meshes/head.obj"/>
      </geometry>
      <material name="">
        <color rgba="0.9098 0.44314 0.031373 1"/>
      </material>
    </visual>
    <collision>
      <origin rpy="0 0 0" xyz="0 0 0"/>
      <geometry>
        <mesh filename="package://multisense_sl/meshes/head.obj"/>
      </geometry>
      <material name="">
        <color rgba="0.9098 0.44314 0.031373 1"/>
      </material>
    </collision>
  </link>
  <link name="pre_spindle"/>
  <joint name="pre_spindle_joint" type="fixed">
    <axis xyz="0 1 0"/>
    <origin rpy="0 0 0" xyz="-0.0446 0 0.0880"/>
    <parent link="head"/>
    <child link="pre_spindle"/>
  </joint>
  <link name="pre_spindle_cal_x"/>
  <link name="pre_spindle_cal_y"/>
  <link name="pre_spindle_cal_z"/>
  <link name="pre_spindle_cal_roll"/>
  <link name="pre_spindle_cal_pitch"/>
  <link name="pre_spindle_cal_yaw"/>
  <joint name="pre_spindle_cal_x_joint" type="fixed">
    <parent link="pre_spindle"/>
    <child link="pre_spindle_cal_x"/>
    <axis xyz="1 0 0"/>
    <limit effort="0.0" lower="-0.5" upper="0.5" velocity="0.0"/>
  </joint>
  <joint name="pre_spindle_cal_y_joint" type="fixed">
    <parent link="pre_spindle_cal_x"/>
    <child link="pre_spindle_cal_y"/>
    <axis xyz="0 1 0"/>
    <limit effort="0.0" lower="-0.5" upper="0.5" velocity="0.0"/>
  </joint>
  <joint name="pre_spindle_cal_z_joint" type="fixed">
    <parent link="pre_spindle_cal_y"/>
    <child link="pre_spindle_cal_z"/>
    <axis xyz="0 0 1"/>
    <limit effort="0.0" lower="-0.5" upper="0.5" velocity="0.0"/>
  </joint>
  <joint name="pre_spindle_cal_roll_joint" type="fixed">
    <parent link="pre_spindle_cal_z"/>
    <child link="pre_spindle_cal_roll"/>
    <axis xyz="1 0 0"/>
  </joint>
  <joint name="pre_spindle_cal_pitch_joint" type="fixed">
    <parent link="pre_spindle_cal_roll"/>
    <child link="pre_spindle_cal_pitch"/>
    <axis xyz="0 1 0"/>
  </joint>
  <joint name="pre_spindle_cal_yaw_joint" type="fixed">
    <parent link="pre_spindle_cal_pitch"/>
    <child link="pre_spindle_cal_yaw"/>
    <axis xyz="0 0 1"/>
  </joint>
  <joint name="hokuyo_joint" type="fixed">
    <origin rpy="0 0 0" xyz="0 0 0"/>
    <parent link="pre_spindle_cal_yaw"/>
    <child link="post_spindle"/>
    <axis xyz="1 0 0"/>
  </joint>
  <link name="post_spindle"/>
  <link name="post_spindle_cal_x"/>
  <link name="post_spindle_cal_y"/>
  <link name="post_spindle_cal_z"/>
  <link name="post_spindle_cal_roll"/>
  <link name="post_spindle_cal_pitch"/>
  <joint name="post_spindle_cal_x_joint" type="fixed">
    <parent link="post_spindle"/>
    <child link="post_spindle_cal_x"/>
    <axis xyz="1 0 0"/>
    <limit effort="0.0" lower="-0.5" upper="0.5" velocity="0.0"/>
  </joint>
  <joint name="post_spindle_cal_y_joint" type="fixed">
    <parent link="post_spindle_cal_x"/>
    <child link="post_spindle_cal_y"/>
    <axis xyz="0 1 0"/>
    <limit effort="0.0" lower="-0.5" upper="0.5" velocity="0.0"/>
  </joint>
  <joint name="post_spindle_cal_z_joint" type="fixed">
    <parent link="post_spindle_cal_y"/>
    <child link="post_spindle_cal_z"/>
    <axis xyz="0 0 1"/>
    <limit effort="0.0" lower="-0.5" upper="0.5" velocity="0.0"/>
  </joint>
  <joint name="post_spindle_cal_roll_joint" type="fixed">
    <parent link="post_spindle_cal_z"/>
    <child link="post_spindle_cal_roll"/>
    <axis xyz="1 0 0"/>
  </joint>
  <joint name="post_spindle_cal_pitch_joint" type="fixed">
    <parent link="post_spindle_cal_roll"/>
    <child link="post_spindle_cal_pitch"/>
    <axis xyz="0 1 0"/>
  </joint>
  <joint name="post_spindle_cal_yaw_joint" type="fixed">
    <parent link="post_spindle_cal_pitch"/>
    <child link="hokuyo_link"/>
    <axis xyz="0 0 1"/>
  </joint>
  <link name="hokuyo_link">
    <inertial>
      <origin rpy="0 0 0" xyz="0.012428 0.0004084 -0.0041835"/>
      <mass value="0.057664"/>
      <inertia ixx="3.7174E-05" ixy="4.9927E-08" ixz="1.1015E-05" iyy="4.2412E-05" iyz="-9.8165E-09" izz="4.167E-05"/>
    </inertial>
    <visual>
      <origin rpy="-0.314 0 0" xyz="0.045 -0.0261018277 -0.08342369"/>
      <geometry>
        <mesh filename="package://multisense_sl/meshes/head_camera.obj"/>
      </geometry>
      <material name="">
        <color rgba="0.72941 0.35686 0.023529 1"/>
      </material>
    </visual>
    <collision>
      <origin rpy="-0.314 0 0" xyz="0.045 -0.0261018277 -0.08342369"/>
      <geometry>
        <mesh filename="package://multisense_sl/meshes/head_camera.obj"/>
      </geometry>
      <material name="">
        <color rgba="0.72941 0.35686 0.023529 1"/>
      </material>
    </collision>
  </link>
  <joint name="head_hokuyo_fixed_joint" type="fixed">
    <axis xyz="0 1 0"/>
    <origin rpy="0 0 0" xyz="0.03 0 0.015"/>
    <parent link="hokuyo_link"/>
    <child link="head_hokuyo_frame"/>
  </joint>
  <link name="head_hokuyo_frame">
    <inertial>
      <mass value="0.01"/>
      <origin rpy="0 0 0" xyz="0 0 0"/>
      <inertia ixx="0.00001" ixy="0" ixz="0" iyy="0.00001" iyz="0" izz="0.00001"/>
    </inertial>
  </link>
  <gazebo reference="head_hokuyo_frame">
    <sensor name="head_hokuyo_sensor" type="ray">
      <pose>0 0 0 0 0 0</pose>
      <visualize>false</visualize>
      <update_rate>40</update_rate>
      <ray>
        <scan>
          <horizontal>
            <samples>720</samples>
            <resolution>1</resolution>
            <min_angle>-1.570796</min_angle>
            <max_angle>1.570796</max_angle>
          </horizontal>
        </scan>
        <range>
          <min>0.10</min>
          <max>30.0</max>
          <resolution>0.01</resolution>
        </range>
      </ray>
      <plugin filename="libgazebo_ros_laser.so" name="gazebo_ros_head_hokuyo_controller">
        <gaussianNoise>0.005</gaussianNoise>
        <alwaysOn>true</alwaysOn>
        <updateRate>40</updateRate>
        <topicName>/scan</topicName>
        <frameName>head_hokuyo_frame</frameName>
      </plugin>
    </sensor>
  </gazebo>
  <joint name="left_camera_frame_joint" type="fixed">
    <!-- optical frame collocated with tilting DOF -->
    <origin xyz="0.0 0.035 -0.002"/>
    <parent link="head"/>
    <child link="left_camera_frame"/>
  </joint>
  <link name="left_camera_frame">
    <inertial>
      <mass value="0.1"/>
      <origin xyz="0 0 0"/>
      <inertia ixx="0.001" ixy="0.0" ixz="0.0" iyy="0.001" iyz="0.0" izz="0.001"/>
    </inertial>
  </link>
  <joint name="left_camera_optical_frame_joint" type="fixed">
    <origin rpy="-1.5708 0.0 -1.5708" xyz="0 0 0"/>
    <parent link="left_camera_frame"/>
    <child link="left_camera_optical_frame"/>
  </joint>
  <link name="left_camera_optical_frame"/>
  <gazebo reference="left_camera_frame">
    <sensor name="left_camera_sensor" type="camera">
      <!-- update rate based on spec sheet for 2mp 15fps -->
      <update_rate>15.0</update_rate>
      <camera>
        <!-- hfov based on spec sheet, 80 degrees X 45 degrees -->
        <!-- for resolution of 2048 x 1088, we have non-unity aspect ratio -->
        <!-- but gazebo will violate the vertical fov for now to keep aspect ratio of 1 -->
        <horizontal_fov>1.3962634</horizontal_fov>
        <image>
          <width>2048</width>
          <height>1088</height>
          <format>R8G8B8</format>
        </image>
        <clip>
          <near>0.02</near>
          <far>100</far>
        </clip>
      </camera>
      <plugin filename="libgazebo_ros_camera.so" name="left_camera_controller">
        <alwaysOn>true</alwaysOn>
        <!-- update rate based on spec sheet for 2mp 15fps -->
        <updateRate>15.0</updateRate>
        <cameraName>multisense/left</cameraName>
        <imageTopicName>image_raw</imageTopicName>
        <cameraInfoTopicName>camera_info</cameraInfoTopicName>
        <frameName>left_camera_optical_frame</frameName>
        <hackBaseline>0.0</hackBaseline>
        <distortionK1>0.0</distortionK1>
        <distortionK2>0.0</distortionK2>
        <distortionK3>0.0</distortionK3>
        <distortionT1>0.0</distortionT1>
        <distortionT2>0.0</distortionT2>
      </plugin>
    </sensor>
  </gazebo>
  <joint name="right_camera_frame_joint" type="fixed">
    <origin xyz="0.0 -0.035 -0.002"/>
    <parent link="head"/>
    <child link="right_camera_frame"/>
  </joint>
  <link name="right_camera_frame">
    <inertial>
      <mass value="0.1"/>
      <origin xyz="0 0 0"/>
      <inertia ixx="0.001" ixy="0.0" ixz="0.0" iyy="0.001" iyz="0.0" izz="0.001"/>
    </inertial>
  </link>
  <joint name="right_camera_optical_frame_joint" type="fixed">
    <origin rpy="-1.5708 0.0 -1.5708" xyz="0 0 0"/>
    <parent link="right_camera_frame"/>
    <child link="right_camera_optical_frame"/>
  </joint>
  <link name="right_camera_optical_frame"/>
  <gazebo reference="right_camera_frame">
    <sensor name="right_camera_sensor" type="camera">
      <!-- update rate based on spec sheet for 2mp 15fps -->
      <update_rate>15.0</update_rate>
      <camera>
        <!-- hfov based on spec sheet, 80 degrees X 45 degrees -->
        <!-- for resolution of 2048 x 1088, we have non-unity aspect ratio -->
        <!-- but gazebo will violate the vertical fov for now to keep aspect ratio of 1 -->
        <horizontal_fov>1.3962634</horizontal_fov>
        <image>
          <width>2048</width>
          <height>1088</height>
          <format>R8G8B8</format>
        </image>
        <clip>
          <near>0.02</near>
          <far>100</far>
        </clip>
      </camera>
      <plugin filename="libgazebo_ros_camera.so" name="right_camera_controller">
        <alwaysOn>true</alwaysOn>
        <!-- update rate based on spec sheet for 2mp 15fps -->
        <updateRate>15.0</updateRate>
        <cameraName>multisense/right</cameraName>
        <imageTopicName>image_raw</imageTopicName>
        <cameraInfoTopicName>camera_info</cameraInfoTopicName>
        <frameName>left_camera_optical_frame</frameName>
        <hackBaseline>0.07</hackBaseline>
        <distortionK1>0.0</distortionK1>
        <distortionK2>0.0</distortionK2>
        <distortionK3>0.0</distortionK3>
        <distortionT1>0.0</distortionT1>
        <distortionT2>0.0</distortionT2>
      </plugin>
    </sensor>
  </gazebo>
  <joint name="center_top_led_frame_joint" type="fixed">
    <origin xyz="0.01125 0.0 0.0105"/>
    <parent link="head"/>
    <child link="center_top_led_frame"/>
  </joint>
  <link name="center_top_led_frame">
    <inertial>
      <mass value="0.1"/>
      <origin xyz="0 0 0"/>
      <inertia ixx="0.001" ixy="0.0" ixz="0.0" iyy="0.001" iyz="0.0" izz="0.001"/>
    </inertial>
  </link>
  <joint name="center_bottom_led_frame_joint" type="fixed">
    <origin xyz="0.01125 0.0 -0.0155"/>
    <parent link="head"/>
    <child link="center_bottom_led_frame"/>
  </joint>
  <link name="center_bottom_led_frame">
    <inertial>
      <mass value="0.1"/>
      <origin xyz="0 0 0"/>
      <inertia ixx="0.001" ixy="0.0" ixz="0.0" iyy="0.001" iyz="0.0" izz="0.001"/>
    </inertial>
  </link>
  <joint name="left_led_frame_joint" type="fixed">
    <origin rpy="0 -0.15 0.53" xyz="-0.01443 0.07452 0.050346"/>
    <parent link="head"/>
    <child link="left_led_frame"/>
  </joint>
  <link name="left_led_frame">
    <inertial>
      <mass value="0.1"/>
      <origin xyz="0 0 0"/>
      <inertia ixx="0.001" ixy="0.0" ixz="0.0" iyy="0.001" iyz="0.0" izz="0.001"/>
    </inertial>
  </link>
  <joint name="right_led_frame_joint" type="fixed">
    <origin rpy="0 -0.15 -0.53" xyz="-0.01443 -0.07452 0.050346"/>
    <parent link="head"/>
    <child link="right_led_frame"/>
  </joint>
  <link name="right_led_frame">
    <inertial>
      <mass value="0.1"/>
      <origin xyz="0 0 0"/>
      <inertia ixx="0.001" ixy="0.0" ixz="0.0" iyy="0.001" iyz="0.0" izz="0.001"/>
    </inertial>
  </link>
  <gazebo reference="r_foot">
    <!-- contact sensor -->
    <sensor name="r_foot_contact_sensor" type="contact">
      <update_rate>1000.0</update_rate>
      <always_on>1</always_on>
      <contact>
        <topic>/r_foot_contact</topic>
      </contact>
    </sensor>
  </gazebo>
  <gazebo reference="l_foot">
    <!-- contact sensor -->
    <sensor name="l_foot_contact_sensor" type="contact">
      <update_rate>1000.0</update_rate>
      <always_on>1</always_on>
      <contact>
        <topic>/l_foot_contact</topic>
      </contact>
    </sensor>
  </gazebo>
  <transmission name="head_hokuyo_trans" type="pr2_mechanism_model/SimpleTransmission">
    <joint name="hokuyo_joint"/>
    <actuator name="hokuyo_motor"/>
    <mechanicalReduction>1</mechanicalReduction>
  </transmission>
  <transmission name="back_bkz_trans" type="pr2_mechanism_model/SimpleTransmission">
    <joint name="back_bkz"/>
    <actuator name="back_bkz_motor"/>
    <mechanicalReduction>1</mechanicalReduction>
  </transmission>
  <transmission name="back_bky_trans" type="pr2_mechanism_model/SimpleTransmission">
    <actuator name="back_bky_motor"/>
    <joint name="back_bky"/>
    <mechanicalReduction>1</mechanicalReduction>
  </transmission>
  <transmission name="back_bkx_trans" type="pr2_mechanism_model/SimpleTransmission">
    <actuator name="back_bkx_motor"/>
    <joint name="back_bkx"/>
    <mechanicalReduction>1</mechanicalReduction>
  </transmission>
  <transmission name="l_arm_elx_trans" type="pr2_mechanism_model/SimpleTransmission">
    <actuator name="l_arm_elx_motor"/>
    <joint name="l_arm_elx"/>
    <mechanicalReduction>1</mechanicalReduction>
  </transmission>
  <transmission name="l_arm_ely_trans" type="pr2_mechanism_model/SimpleTransmission">
    <actuator name="l_arm_ely_motor"/>
    <joint name="l_arm_ely"/>
    <mechanicalReduction>1</mechanicalReduction>
  </transmission>
  <transmission name="l_arm_mwx_trans" type="pr2_mechanism_model/SimpleTransmission">
    <actuator name="l_arm_mwx_motor"/>
    <joint name="l_arm_mwx"/>
    <mechanicalReduction>1</mechanicalReduction>
  </transmission>
  <transmission name="l_arm_shx_trans" type="pr2_mechanism_model/SimpleTransmission">
    <actuator name="l_arm_shx_motor"/>
    <joint name="l_arm_shx"/>
    <mechanicalReduction>1</mechanicalReduction>
  </transmission>
  <transmission name="l_arm_shz_trans" type="pr2_mechanism_model/SimpleTransmission">
    <actuator name="l_arm_shz_motor"/>
    <joint name="l_arm_shz"/>
    <mechanicalReduction>1</mechanicalReduction>
  </transmission>
  <transmission name="l_arm_uwy_trans" type="pr2_mechanism_model/SimpleTransmission">
    <actuator name="l_arm_uwy_motor"/>
    <joint name="l_arm_uwy"/>
    <mechanicalReduction>1</mechanicalReduction>
  </transmission>
  <transmission name="l_arm_lwy_trans" type="pr2_mechanism_model/SimpleTransmission">
    <actuator name="l_arm_lwy_motor"/>
    <joint name="l_arm_lwy"/>
    <mechanicalReduction>1</mechanicalReduction>
  </transmission>
  <transmission name="l_leg_kny_trans" type="pr2_mechanism_model/SimpleTransmission">
    <actuator name="l_leg_kny_motor"/>
    <joint name="l_leg_kny"/>
    <mechanicalReduction>1</mechanicalReduction>
  </transmission>
  <transmission name="l_leg_akx_trans" type="pr2_mechanism_model/SimpleTransmission">
    <actuator name="l_leg_akx_motor"/>
    <joint name="l_leg_akx"/>
    <mechanicalReduction>1</mechanicalReduction>
  </transmission>
  <transmission name="l_leg_hpy_trans" type="pr2_mechanism_model/SimpleTransmission">
    <actuator name="l_leg_hpy_motor"/>
    <joint name="l_leg_hpy"/>
    <mechanicalReduction>1</mechanicalReduction>
  </transmission>
  <transmission name="l_leg_hpx_trans" type="pr2_mechanism_model/SimpleTransmission">
    <actuator name="l_leg_hpx_motor"/>
    <joint name="l_leg_hpx"/>
    <mechanicalReduction>1</mechanicalReduction>
  </transmission>
  <transmission name="l_leg_aky_trans" type="pr2_mechanism_model/SimpleTransmission">
    <actuator name="l_leg_aky_motor"/>
    <joint name="l_leg_aky"/>
    <mechanicalReduction>1</mechanicalReduction>
  </transmission>
  <transmission name="l_leg_hpz_trans" type="pr2_mechanism_model/SimpleTransmission">
    <actuator name="l_leg_hpz_motor"/>
    <joint name="l_leg_hpz"/>
    <mechanicalReduction>1</mechanicalReduction>
  </transmission>
  <transmission name="neck_ay_trans" type="pr2_mechanism_model/SimpleTransmission">
    <actuator name="neck_ay_motor"/>
    <joint name="neck_ay"/>
    <mechanicalReduction>1</mechanicalReduction>
  </transmission>
  <transmission name="r_arm_elx_trans" type="pr2_mechanism_model/SimpleTransmission">
    <actuator name="r_arm_elx_motor"/>
    <joint name="r_arm_elx"/>
    <mechanicalReduction>1</mechanicalReduction>
  </transmission>
  <transmission name="r_arm_ely_trans" type="pr2_mechanism_model/SimpleTransmission">
    <actuator name="r_arm_ely_motor"/>
    <joint name="r_arm_ely"/>
    <mechanicalReduction>1</mechanicalReduction>
  </transmission>
  <transmission name="r_arm_mwx_trans" type="pr2_mechanism_model/SimpleTransmission">
    <actuator name="r_arm_mwx_motor"/>
    <joint name="r_arm_mwx"/>
    <mechanicalReduction>1</mechanicalReduction>
  </transmission>
  <transmission name="r_arm_shx_trans" type="pr2_mechanism_model/SimpleTransmission">
    <actuator name="r_arm_shx_motor"/>
    <joint name="r_arm_shx"/>
    <mechanicalReduction>1</mechanicalReduction>
  </transmission>
  <transmission name="r_arm_shz_trans" type="pr2_mechanism_model/SimpleTransmission">
    <actuator name="r_arm_shz_motor"/>
    <joint name="r_arm_shz"/>
    <mechanicalReduction>1</mechanicalReduction>
  </transmission>
  <transmission name="r_arm_uwy_trans" type="pr2_mechanism_model/SimpleTransmission">
    <actuator name="r_arm_uwy_motor"/>
    <joint name="r_arm_uwy"/>
    <mechanicalReduction>1</mechanicalReduction>
  </transmission>
  <transmission name="r_arm_lwy_trans" type="pr2_mechanism_model/SimpleTransmission">
    <actuator name="r_arm_lwy_motor"/>
    <joint name="r_arm_lwy"/>
    <mechanicalReduction>1</mechanicalReduction>
  </transmission>
  <transmission name="r_leg_kny_trans" type="pr2_mechanism_model/SimpleTransmission">
    <actuator name="r_leg_kny_motor"/>
    <joint name="r_leg_kny"/>
    <mechanicalReduction>1</mechanicalReduction>
  </transmission>
  <transmission name="r_leg_akx_trans" type="pr2_mechanism_model/SimpleTransmission">
    <actuator name="r_leg_akx_motor"/>
    <joint name="r_leg_akx"/>
    <mechanicalReduction>1</mechanicalReduction>
  </transmission>
  <transmission name="r_leg_hpy_trans" type="pr2_mechanism_model/SimpleTransmission">
    <actuator name="r_leg_hpy_motor"/>
    <joint name="r_leg_hpy"/>
    <mechanicalReduction>1</mechanicalReduction>
  </transmission>
  <transmission name="r_leg_hpx_trans" type="pr2_mechanism_model/SimpleTransmission">
    <actuator name="r_leg_hpx_motor"/>
    <joint name="r_leg_hpx"/>
    <mechanicalReduction>1</mechanicalReduction>
  </transmission>
  <transmission name="r_leg_aky_trans" type="pr2_mechanism_model/SimpleTransmission">
    <actuator name="r_leg_aky_motor"/>
    <joint name="r_leg_aky"/>
    <mechanicalReduction>1</mechanicalReduction>
  </transmission>
  <transmission name="r_leg_hpz_trans" type="pr2_mechanism_model/SimpleTransmission">
    <actuator name="r_leg_hpz_motor"/>
    <joint name="r_leg_hpz"/>
    <mechanicalReduction>1</mechanicalReduction>
  </transmission>
  <link name="l_hand_force_torque">
    <inertial>
      <mass value="0.1"/>
      <origin xyz="0 0 0"/>
      <inertia ixx="0.00001" ixy="0" ixz="0" iyy="0.00001" iyz="0" izz="0.00001"/>
    </inertial>
    <visual>
      <origin rpy="0 0 0" xyz="0 0 0"/>
      <geometry>
        <box size="0.01 0.01 0.01"/>
      </geometry>
    </visual>
  </link>
  <joint name="l_hand_force_torque_joint" type="fixed">
    <origin rpy="0 0 3.141592" xyz="0 -0.1245 0"/>
    <parent link="l_hand"/>
    <child link="l_hand_force_torque"/>
  </joint>
  <link name="r_hand_force_torque">
    <inertial>
      <mass value="0.1"/>
      <origin xyz="0 0 0"/>
      <inertia ixx="0.00001" ixy="0" ixz="0" iyy="0.00001" iyz="0" izz="0.00001"/>
    </inertial>
    <visual>
      <origin rpy="0 0 0" xyz="0 0 0"/>
      <geometry>
        <box size="0.01 0.01 0.01"/>
      </geometry>
    </visual>
  </link>
  <joint name="r_hand_force_torque_joint" type="fixed">
    <origin rpy="0 0 3.141592" xyz="0 -0.1245 0"/>
    <parent link="r_hand"/>
    <child link="r_hand_force_torque"/>
  </joint>
  <!-- Set the initial hand position and orientation by changing 'rpy' and 'xyz'
  to mach the values in your actual robot. -->
  <joint name="left_robotiq_hand_joint" type="fixed">
    <origin rpy="0 -1.57079 0" xyz="0 0.06566 0.0"/>
    <parent link="l_hand_force_torque"/>
    <child link="left_palm"/>
  </joint>
  <link name="left_finger_1_link_0">
    <visual>
      <origin rpy="0 0 0" xyz="0.020 0 0"/>
      <geometry>
        <mesh filename="package://robotiq_hand_description/meshes/s-model_articulated/visual/link_0.obj"/>
      </geometry>
      <material name="green">
        <color rgba="0 1 0 1"/>
      </material>
    </visual>
    <collision>
      <origin rpy="0 3.1416 -1.57" xyz="-0.0455 0.0414 0.036"/>
      <geometry>
        <mesh filename="package://robotiq_hand_description/meshes/s-model_articulated/collision/link_0_chull.obj"/>
      </geometry>
      <material name="yellow">
        <color rgba="0 1 1 1"/>
      </material>
    </collision>
  </link>
  <link name="left_finger_1_link_1">
    <visual>
      <origin rpy="0 0 -0.52" xyz="0.050 -.028 0"/>
      <geometry>
        <mesh filename="package://robotiq_hand_description/meshes/s-model_articulated/visual/link_1.obj"/>
      </geometry>
      <material name="green"/>
    </visual>
    <collision>
      <origin rpy="0 0 -0.52" xyz="0.050 -.028 0"/>
      <geometry>
        <mesh filename="package://robotiq_hand_description/meshes/s-model_articulated/collision/link_1_chull.obj"/>
      </geometry>
      <material name="yellow"/>
    </collision>
  </link>
  <link name="left_finger_1_link_2">
    <!--
			NOTE: This link has an offset in the z-direction based on the models that were
			used to generate grap-it poses.  With the offset below the model appears visually
			correct, but it is suspect.
			-->
    <visual>
      <origin rpy="0 0 0" xyz="0.039 0 0.0075"/>
      <geometry>
        <mesh filename="package://robotiq_hand_description/meshes/s-model_articulated/visual/link_2.obj"/>
      </geometry>
      <material name="green"/>
    </visual>
    <collision>
      <origin rpy="0 0 0" xyz="0.039 0 0.0075"/>
      <geometry>
        <mesh filename="package://robotiq_hand_description/meshes/s-model_articulated/collision/link_2_chull.obj"/>
      </geometry>
      <material name="yellow"/>
    </collision>
  </link>
  <link name="left_finger_1_link_3">
    <visual>
      <origin rpy="0 0 0.52" xyz="0 0 0"/>
      <geometry>
        <mesh filename="package://robotiq_hand_description/meshes/s-model_articulated/visual/link_3.obj"/>
      </geometry>
      <material name="green"/>
    </visual>
    <collision>
      <origin rpy="0 0 0.52" xyz="0 0 0"/>
      <geometry>
        <mesh filename="package://robotiq_hand_description/meshes/s-model_articulated/collision/link_3_chull.obj"/>
      </geometry>
      <material name="yellow"/>
    </collision>
  </link>
  <joint name="left_finger_1_joint_1" type="fixed">
    <parent link="left_finger_1_link_0"/>
    <child link="left_finger_1_link_1"/>
    <axis xyz="0 0 1"/>
    <origin rpy="0 0 0" xyz="0.020 0 0"/>
    <limit effort="100" lower="0" upper="3.1416" velocity="100"/>
  </joint>
  <joint name="left_finger_1_joint_2" type="fixed">
    <parent link="left_finger_1_link_1"/>
    <child link="left_finger_1_link_2"/>
    <axis xyz="0 0 1"/>
    <origin rpy="0 0 -0.52" xyz="0.050 -.028 0"/>
    <limit effort="100" lower="0" upper="3.1416" velocity="100"/>
  </joint>
  <joint name="left_finger_1_joint_3" type="fixed">
    <parent link="left_finger_1_link_2"/>
    <child link="left_finger_1_link_3"/>
    <axis xyz="0 0 1"/>
    <origin rpy="0 0 0" xyz="0.039 0 0"/>
    <limit effort="100" lower="0" upper="3.1416" velocity="100"/>
  </joint>
  <link name="left_finger_2_link_0">
    <visual>
      <origin rpy="0 0 0" xyz="0.020 0 0"/>
      <geometry>
        <mesh filename="package://robotiq_hand_description/meshes/s-model_articulated/visual/link_0.obj"/>
      </geometry>
      <material name="green">
        <color rgba="0 1 0 1"/>
      </material>
    </visual>
    <collision>
      <origin rpy="0 3.1416 -1.57" xyz="-0.0455 0.0414 0.036"/>
      <geometry>
        <mesh filename="package://robotiq_hand_description/meshes/s-model_articulated/collision/link_0_chull.obj"/>
      </geometry>
      <material name="yellow">
        <color rgba="0 1 1 1"/>
      </material>
    </collision>
  </link>
  <link name="left_finger_2_link_1">
    <visual>
      <origin rpy="0 0 -0.52" xyz="0.050 -.028 0"/>
      <geometry>
        <mesh filename="package://robotiq_hand_description/meshes/s-model_articulated/visual/link_1.obj"/>
      </geometry>
      <material name="green"/>
    </visual>
    <collision>
      <origin rpy="0 0 -0.52" xyz="0.050 -.028 0"/>
      <geometry>
        <mesh filename="package://robotiq_hand_description/meshes/s-model_articulated/collision/link_1_chull.obj"/>
      </geometry>
      <material name="yellow"/>
    </collision>
  </link>
  <link name="left_finger_2_link_2">
    <!--
			NOTE: This link has an offset in the z-direction based on the models that were
			used to generate grap-it poses.  With the offset below the model appears visually
			correct, but it is suspect.
			-->
    <visual>
      <origin rpy="0 0 0" xyz="0.039 0 0.0075"/>
      <geometry>
        <mesh filename="package://robotiq_hand_description/meshes/s-model_articulated/visual/link_2.obj"/>
      </geometry>
      <material name="green"/>
    </visual>
    <collision>
      <origin rpy="0 0 0" xyz="0.039 0 0.0075"/>
      <geometry>
        <mesh filename="package://robotiq_hand_description/meshes/s-model_articulated/collision/link_2_chull.obj"/>
      </geometry>
      <material name="yellow"/>
    </collision>
  </link>
  <link name="left_finger_2_link_3">
    <visual>
      <origin rpy="0 0 0.52" xyz="0 0 0"/>
      <geometry>
        <mesh filename="package://robotiq_hand_description/meshes/s-model_articulated/visual/link_3.obj"/>
      </geometry>
      <material name="green"/>
    </visual>
    <collision>
      <origin rpy="0 0 0.52" xyz="0 0 0"/>
      <geometry>
        <mesh filename="package://robotiq_hand_description/meshes/s-model_articulated/collision/link_3_chull.obj"/>
      </geometry>
      <material name="yellow"/>
    </collision>
  </link>
  <joint name="left_finger_2_joint_1" type="fixed">
    <parent link="left_finger_2_link_0"/>
    <child link="left_finger_2_link_1"/>
    <axis xyz="0 0 1"/>
    <origin rpy="0 0 0" xyz="0.020 0 0"/>
    <limit effort="100" lower="0" upper="3.1416" velocity="100"/>
  </joint>
  <joint name="left_finger_2_joint_2" type="fixed">
    <parent link="left_finger_2_link_1"/>
    <child link="left_finger_2_link_2"/>
    <axis xyz="0 0 1"/>
    <origin rpy="0 0 -0.52" xyz="0.050 -.028 0"/>
    <limit effort="100" lower="0" upper="3.1416" velocity="100"/>
  </joint>
  <joint name="left_finger_2_joint_3" type="fixed">
    <parent link="left_finger_2_link_2"/>
    <child link="left_finger_2_link_3"/>
    <axis xyz="0 0 1"/>
    <origin rpy="0 0 0" xyz="0.039 0 0"/>
    <limit effort="100" lower="0" upper="3.1416" velocity="100"/>
  </joint>
  <link name="left_finger_middle_link_0">
    <visual>
      <origin rpy="0 0 0" xyz="0.020 0 0"/>
      <geometry>
        <mesh filename="package://robotiq_hand_description/meshes/s-model_articulated/visual/link_0.obj"/>
      </geometry>
      <material name="green">
        <color rgba="0 1 0 1"/>
      </material>
    </visual>
    <collision>
      <origin rpy="0 3.1416 -1.57" xyz="-0.0455 0.0414 0.036"/>
      <geometry>
        <mesh filename="package://robotiq_hand_description/meshes/s-model_articulated/collision/link_0_chull.obj"/>
      </geometry>
      <material name="yellow">
        <color rgba="0 1 1 1"/>
      </material>
    </collision>
  </link>
  <link name="left_finger_middle_link_1">
    <visual>
      <origin rpy="0 0 -0.52" xyz="0.050 -.028 0"/>
      <geometry>
        <mesh filename="package://robotiq_hand_description/meshes/s-model_articulated/visual/link_1.obj"/>
      </geometry>
      <material name="green"/>
    </visual>
    <collision>
      <origin rpy="0 0 -0.52" xyz="0.050 -.028 0"/>
      <geometry>
        <mesh filename="package://robotiq_hand_description/meshes/s-model_articulated/collision/link_1_chull.obj"/>
      </geometry>
      <material name="yellow"/>
    </collision>
  </link>
  <link name="left_finger_middle_link_2">
    <!--
			NOTE: This link has an offset in the z-direction based on the models that were
			used to generate grap-it poses.  With the offset below the model appears visually
			correct, but it is suspect.
			-->
    <visual>
      <origin rpy="0 0 0" xyz="0.039 0 0.0075"/>
      <geometry>
        <mesh filename="package://robotiq_hand_description/meshes/s-model_articulated/visual/link_2.obj"/>
      </geometry>
      <material name="green"/>
    </visual>
    <collision>
      <origin rpy="0 0 0" xyz="0.039 0 0.0075"/>
      <geometry>
        <mesh filename="package://robotiq_hand_description/meshes/s-model_articulated/collision/link_2_chull.obj"/>
      </geometry>
      <material name="yellow"/>
    </collision>
  </link>
  <link name="left_finger_middle_link_3">
    <visual>
      <origin rpy="0 0 0.52" xyz="0 0 0"/>
      <geometry>
        <mesh filename="package://robotiq_hand_description/meshes/s-model_articulated/visual/link_3.obj"/>
      </geometry>
      <material name="green"/>
    </visual>
    <collision>
      <origin rpy="0 0 0.52" xyz="0 0 0"/>
      <geometry>
        <mesh filename="package://robotiq_hand_description/meshes/s-model_articulated/collision/link_3_chull.obj"/>
      </geometry>
      <material name="yellow"/>
    </collision>
  </link>
  <joint name="left_finger_middle_joint_1" type="fixed">
    <parent link="left_finger_middle_link_0"/>
    <child link="left_finger_middle_link_1"/>
    <axis xyz="0 0 1"/>
    <origin rpy="0 0 0" xyz="0.020 0 0"/>
    <limit effort="100" lower="0" upper="3.1416" velocity="100"/>
  </joint>
  <joint name="left_finger_middle_joint_2" type="fixed">
    <parent link="left_finger_middle_link_1"/>
    <child link="left_finger_middle_link_2"/>
    <axis xyz="0 0 1"/>
    <origin rpy="0 0 -0.52" xyz="0.050 -.028 0"/>
    <limit effort="100" lower="0" upper="3.1416" velocity="100"/>
  </joint>
  <joint name="left_finger_middle_joint_3" type="fixed">
    <parent link="left_finger_middle_link_2"/>
    <child link="left_finger_middle_link_3"/>
    <axis xyz="0 0 1"/>
    <origin rpy="0 0 0" xyz="0.039 0 0"/>
    <limit effort="100" lower="0" upper="3.1416" velocity="100"/>
  </joint>
  <link name="left_palm">
    <visual>
      <geometry>
        <mesh filename="package://robotiq_hand_description/meshes/s-model_articulated/visual/palm.obj"/>
      </geometry>
      <material name="green">
        <color rgba="0 1 0 1"/>
      </material>
    </visual>
    <collision>
      <geometry>
        <mesh filename="package://robotiq_hand_description/meshes/s-model_articulated/collision/palm_chull.obj"/>
      </geometry>
      <material name="yellow">
        <color rgba="0 1 1 1"/>
      </material>
    </collision>
  </link>
  <joint name="left_palm_finger_1_joint" type="fixed">
    <parent link="left_palm"/>
    <child link="left_finger_1_link_0"/>
    <axis xyz="0 1 0"/>
    <origin rpy="0 3.1416 -1.57" xyz="-0.0455 0.0214 0.036"/>
    <limit effort="100" lower="-0.16" upper="0.25" velocity="100"/>
  </joint>
  <joint name="left_palm_finger_2_joint" type="fixed">
    <parent link="left_palm"/>
    <child link="left_finger_2_link_0"/>
    <axis xyz="0 1 0"/>
    <origin rpy="0 3.1416 -1.57" xyz="-0.0455 0.0214 -0.036"/>
    <limit effort="100" lower="-0.25" upper="0.16" velocity="100"/>
  </joint>
  <joint name="left_palm_finger_middle_joint" type="fixed">
    <parent link="left_palm"/>
    <child link="left_finger_middle_link_0"/>
    <axis xyz="0 0 1"/>
    <origin rpy="0 0 1.57" xyz="0.0455 0.0214 0"/>
  </joint>
  <joint name="right_robotiq_hand_joint" type="fixed">
    <origin rpy="0 -1.57079 0" xyz="0 0.06566 0.0"/>
    <parent link="r_hand_force_torque"/>
    <child link="right_palm"/>
  </joint>
  <link name="right_finger_1_link_0">
    <visual>
      <origin rpy="0 0 0" xyz="0.020 0 0"/>
      <geometry>
        <mesh filename="package://robotiq_hand_description/meshes/s-model_articulated/visual/link_0.obj"/>
      </geometry>
      <material name="green">
        <color rgba="0 1 0 1"/>
      </material>
    </visual>
    <collision>
      <origin rpy="0 3.1416 -1.57" xyz="-0.0455 0.0414 0.036"/>
      <geometry>
        <mesh filename="package://robotiq_hand_description/meshes/s-model_articulated/collision/link_0_chull.obj"/>
      </geometry>
      <material name="yellow">
        <color rgba="0 1 1 1"/>
      </material>
    </collision>
  </link>
  <link name="right_finger_1_link_1">
    <visual>
      <origin rpy="0 0 -0.52" xyz="0.050 -.028 0"/>
      <geometry>
        <mesh filename="package://robotiq_hand_description/meshes/s-model_articulated/visual/link_1.obj"/>
      </geometry>
      <material name="green"/>
    </visual>
    <collision>
      <origin rpy="0 0 -0.52" xyz="0.050 -.028 0"/>
      <geometry>
        <mesh filename="package://robotiq_hand_description/meshes/s-model_articulated/collision/link_1_chull.obj"/>
      </geometry>
      <material name="yellow"/>
    </collision>
  </link>
  <link name="right_finger_1_link_2">
    <!--
			NOTE: This link has an offset in the z-direction based on the models that were
			used to generate grap-it poses.  With the offset below the model appears visually
			correct, but it is suspect.
			-->
    <visual>
      <origin rpy="0 0 0" xyz="0.039 0 0.0075"/>
      <geometry>
        <mesh filename="package://robotiq_hand_description/meshes/s-model_articulated/visual/link_2.obj"/>
      </geometry>
      <material name="green"/>
    </visual>
    <collision>
      <origin rpy="0 0 0" xyz="0.039 0 0.0075"/>
      <geometry>
        <mesh filename="package://robotiq_hand_description/meshes/s-model_articulated/collision/link_2_chull.obj"/>
      </geometry>
      <material name="yellow"/>
    </collision>
  </link>
  <link name="right_finger_1_link_3">
    <visual>
      <origin rpy="0 0 0.52" xyz="0 0 0"/>
      <geometry>
        <mesh filename="package://robotiq_hand_description/meshes/s-model_articulated/visual/link_3.obj"/>
      </geometry>
      <material name="green"/>
    </visual>
    <collision>
      <origin rpy="0 0 0.52" xyz="0 0 0"/>
      <geometry>
        <mesh filename="package://robotiq_hand_description/meshes/s-model_articulated/collision/link_3_chull.obj"/>
      </geometry>
      <material name="yellow"/>
    </collision>
  </link>
  <joint name="right_finger_1_joint_1" type="fixed">
    <parent link="right_finger_1_link_0"/>
    <child link="right_finger_1_link_1"/>
    <axis xyz="0 0 1"/>
    <origin rpy="0 0 0" xyz="0.020 0 0"/>
    <limit effort="100" lower="0" upper="3.1416" velocity="100"/>
  </joint>
  <joint name="right_finger_1_joint_2" type="fixed">
    <parent link="right_finger_1_link_1"/>
    <child link="right_finger_1_link_2"/>
    <axis xyz="0 0 1"/>
    <origin rpy="0 0 -0.52" xyz="0.050 -.028 0"/>
    <limit effort="100" lower="0" upper="3.1416" velocity="100"/>
  </joint>
  <joint name="right_finger_1_joint_3" type="fixed">
    <parent link="right_finger_1_link_2"/>
    <child link="right_finger_1_link_3"/>
    <axis xyz="0 0 1"/>
    <origin rpy="0 0 0" xyz="0.039 0 0"/>
    <limit effort="100" lower="0" upper="3.1416" velocity="100"/>
  </joint>
  <link name="right_finger_2_link_0">
    <visual>
      <origin rpy="0 0 0" xyz="0.020 0 0"/>
      <geometry>
        <mesh filename="package://robotiq_hand_description/meshes/s-model_articulated/visual/link_0.obj"/>
      </geometry>
      <material name="green">
        <color rgba="0 1 0 1"/>
      </material>
    </visual>
    <collision>
      <origin rpy="0 3.1416 -1.57" xyz="-0.0455 0.0414 0.036"/>
      <geometry>
        <mesh filename="package://robotiq_hand_description/meshes/s-model_articulated/collision/link_0_chull.obj"/>
      </geometry>
      <material name="yellow">
        <color rgba="0 1 1 1"/>
      </material>
    </collision>
  </link>
  <link name="right_finger_2_link_1">
    <visual>
      <origin rpy="0 0 -0.52" xyz="0.050 -.028 0"/>
      <geometry>
        <mesh filename="package://robotiq_hand_description/meshes/s-model_articulated/visual/link_1.obj"/>
      </geometry>
      <material name="green"/>
    </visual>
    <collision>
      <origin rpy="0 0 -0.52" xyz="0.050 -.028 0"/>
      <geometry>
        <mesh filename="package://robotiq_hand_description/meshes/s-model_articulated/collision/link_1_chull.obj"/>
      </geometry>
      <material name="yellow"/>
    </collision>
  </link>
  <link name="right_finger_2_link_2">
    <!--
			NOTE: This link has an offset in the z-direction based on the models that were
			used to generate grap-it poses.  With the offset below the model appears visually
			correct, but it is suspect.
			-->
    <visual>
      <origin rpy="0 0 0" xyz="0.039 0 0.0075"/>
      <geometry>
        <mesh filename="package://robotiq_hand_description/meshes/s-model_articulated/visual/link_2.obj"/>
      </geometry>
      <material name="green"/>
    </visual>
    <collision>
      <origin rpy="0 0 0" xyz="0.039 0 0.0075"/>
      <geometry>
        <mesh filename="package://robotiq_hand_description/meshes/s-model_articulated/collision/link_2_chull.obj"/>
      </geometry>
      <material name="yellow"/>
    </collision>
  </link>
  <link name="right_finger_2_link_3">
    <visual>
      <origin rpy="0 0 0.52" xyz="0 0 0"/>
      <geometry>
        <mesh filename="package://robotiq_hand_description/meshes/s-model_articulated/visual/link_3.obj"/>
      </geometry>
      <material name="green"/>
    </visual>
    <collision>
      <origin rpy="0 0 0.52" xyz="0 0 0"/>
      <geometry>
        <mesh filename="package://robotiq_hand_description/meshes/s-model_articulated/collision/link_3_chull.obj"/>
      </geometry>
      <material name="yellow"/>
    </collision>
  </link>
  <joint name="right_finger_2_joint_1" type="fixed">
    <parent link="right_finger_2_link_0"/>
    <child link="right_finger_2_link_1"/>
    <axis xyz="0 0 1"/>
    <origin rpy="0 0 0" xyz="0.020 0 0"/>
    <limit effort="100" lower="0" upper="3.1416" velocity="100"/>
  </joint>
  <joint name="right_finger_2_joint_2" type="fixed">
    <parent link="right_finger_2_link_1"/>
    <child link="right_finger_2_link_2"/>
    <axis xyz="0 0 1"/>
    <origin rpy="0 0 -0.52" xyz="0.050 -.028 0"/>
    <limit effort="100" lower="0" upper="3.1416" velocity="100"/>
  </joint>
  <joint name="right_finger_2_joint_3" type="fixed">
    <parent link="right_finger_2_link_2"/>
    <child link="right_finger_2_link_3"/>
    <axis xyz="0 0 1"/>
    <origin rpy="0 0 0" xyz="0.039 0 0"/>
    <limit effort="100" lower="0" upper="3.1416" velocity="100"/>
  </joint>
  <link name="right_finger_middle_link_0">
    <visual>
      <origin rpy="0 0 0" xyz="0.020 0 0"/>
      <geometry>
        <mesh filename="package://robotiq_hand_description/meshes/s-model_articulated/visual/link_0.obj"/>
      </geometry>
      <material name="green">
        <color rgba="0 1 0 1"/>
      </material>
    </visual>
    <collision>
      <origin rpy="0 3.1416 -1.57" xyz="-0.0455 0.0414 0.036"/>
      <geometry>
        <mesh filename="package://robotiq_hand_description/meshes/s-model_articulated/collision/link_0_chull.obj"/>
      </geometry>
      <material name="yellow">
        <color rgba="0 1 1 1"/>
      </material>
    </collision>
  </link>
  <link name="right_finger_middle_link_1">
    <visual>
      <origin rpy="0 0 -0.52" xyz="0.050 -.028 0"/>
      <geometry>
        <mesh filename="package://robotiq_hand_description/meshes/s-model_articulated/visual/link_1.obj"/>
      </geometry>
      <material name="green"/>
    </visual>
    <collision>
      <origin rpy="0 0 -0.52" xyz="0.050 -.028 0"/>
      <geometry>
        <mesh filename="package://robotiq_hand_description/meshes/s-model_articulated/collision/link_1_chull.obj"/>
      </geometry>
      <material name="yellow"/>
    </collision>
  </link>
  <link name="right_finger_middle_link_2">
    <!--
			NOTE: This link has an offset in the z-direction based on the models that were
			used to generate grap-it poses.  With the offset below the model appears visually
			correct, but it is suspect.
			-->
    <visual>
      <origin rpy="0 0 0" xyz="0.039 0 0.0075"/>
      <geometry>
        <mesh filename="package://robotiq_hand_description/meshes/s-model_articulated/visual/link_2.obj"/>
      </geometry>
      <material name="green"/>
    </visual>
    <collision>
      <origin rpy="0 0 0" xyz="0.039 0 0.0075"/>
      <geometry>
        <mesh filename="package://robotiq_hand_description/meshes/s-model_articulated/collision/link_2_chull.obj"/>
      </geometry>
      <material name="yellow"/>
    </collision>
  </link>
  <link name="right_finger_middle_link_3">
    <visual>
      <origin rpy="0 0 0.52" xyz="0 0 0"/>
      <geometry>
        <mesh filename="package://robotiq_hand_description/meshes/s-model_articulated/visual/link_3.obj"/>
      </geometry>
      <material name="green"/>
    </visual>
    <collision>
      <origin rpy="0 0 0.52" xyz="0 0 0"/>
      <geometry>
        <mesh filename="package://robotiq_hand_description/meshes/s-model_articulated/collision/link_3_chull.obj"/>
      </geometry>
      <material name="yellow"/>
    </collision>
  </link>
  <joint name="right_finger_middle_joint_1" type="fixed">
    <parent link="right_finger_middle_link_0"/>
    <child link="right_finger_middle_link_1"/>
    <axis xyz="0 0 1"/>
    <origin rpy="0 0 0" xyz="0.020 0 0"/>
    <limit effort="100" lower="0" upper="3.1416" velocity="100"/>
  </joint>
  <joint name="right_finger_middle_joint_2" type="fixed">
    <parent link="right_finger_middle_link_1"/>
    <child link="right_finger_middle_link_2"/>
    <axis xyz="0 0 1"/>
    <origin rpy="0 0 -0.52" xyz="0.050 -.028 0"/>
    <limit effort="100" lower="0" upper="3.1416" velocity="100"/>
  </joint>
  <joint name="right_finger_middle_joint_3" type="fixed">
    <parent link="right_finger_middle_link_2"/>
    <child link="right_finger_middle_link_3"/>
    <axis xyz="0 0 1"/>
    <origin rpy="0 0 0" xyz="0.039 0 0"/>
    <limit effort="100" lower="0" upper="3.1416" velocity="100"/>
  </joint>
  <link name="right_palm">
    <visual>
      <geometry>
        <mesh filename="package://robotiq_hand_description/meshes/s-model_articulated/visual/palm.obj"/>
      </geometry>
      <material name="green">
        <color rgba="0 1 0 1"/>
      </material>
    </visual>
    <collision>
      <geometry>
        <mesh filename="package://robotiq_hand_description/meshes/s-model_articulated/collision/palm_chull.obj"/>
      </geometry>
      <material name="yellow">
        <color rgba="0 1 1 1"/>
      </material>
    </collision>
  </link>
  <joint name="right_palm_finger_1_joint" type="fixed">
    <parent link="right_palm"/>
    <child link="right_finger_1_link_0"/>
    <axis xyz="0 1 0"/>
    <origin rpy="0 3.1416 -1.57" xyz="-0.0455 0.0214 0.036"/>
    <limit effort="100" lower="-0.16" upper="0.25" velocity="100"/>
  </joint>
  <joint name="right_palm_finger_2_joint" type="fixed">
    <parent link="right_palm"/>
    <child link="right_finger_2_link_0"/>
    <axis xyz="0 1 0"/>
    <origin rpy="0 3.1416 -1.57" xyz="-0.0455 0.0214 -0.036"/>
    <limit effort="100" lower="-0.25" upper="0.16" velocity="100"/>
  </joint>
  <joint name="right_palm_finger_middle_joint" type="fixed">
    <parent link="right_palm"/>
    <child link="right_finger_middle_link_0"/>
    <axis xyz="0 0 1"/>
    <origin rpy="0 0 1.57" xyz="0.0455 0.0214 0"/>
  </joint>
  <joint name="l_hand_face_joint" type="fixed">
    <origin rpy="0.0 0.0 0.0" xyz="0 0.12 0"/>
    <parent link="l_hand_force_torque"/>
    <child link="l_hand_face"/>
  </joint>
  <link name="l_hand_face"/>
  <joint name="l_hand_gripper_joint" type="fixed">
    <origin rpy="0.0 0.0 0.0" xyz="0 0.18 0"/>
    <parent link="l_hand_force_torque"/>
    <child link="l_hand_gripper"/>
  </joint>
  <link name="l_hand_gripper"/>
  <link name="l_hand_camera_link"/>
  <joint name="l_hand_camera_joint" type="fixed">
    <parent link="l_hand_force_torque"/>
    <child link="l_hand_camera_link"/>
    <!-- new camera has no inward angle, placeholder is still here in case it is later tilted-->
    <origin rpy=" -1.57079 0  1.5708" xyz="-0.09892  0.01431 0.0"/>
  </joint>
  <joint name="l_hand_camera_optical_frame_joint" type="fixed">
    <origin rpy="-1.57079 0.0 -1.57079" xyz="0 0 0"/>
    <parent link="l_hand_camera_link"/>
    <child link="l_hand_camera_optical_frame"/>
  </joint>
  <link name="l_hand_camera_optical_frame"/>
  <gazebo reference="l_hand_camera_link">
    <sensor name="l_hand_camera_sensor" type="camera">
      <update_rate>10.0</update_rate>
      <camera name="l_hand_camera">
        <pose>0 0 0 0 0 0</pose>
        <!-- m.antone estimate of 2.8mm tamron lense fov -->
        <horizontal_fov>1.7281</horizontal_fov>
        <image>
          <width>1280</width>
          <height>1024</height>
          <format>R8G8B8</format>
        </image>
        <clip>
          <near>0.02</near>
          <far>100</far>
        </clip>
        <noise>
          <type>gaussian</type>
          <!-- Noise is sampled independently per pixel on each frame.
               That pixel's noise value is added to each of its color
               channels, which at that point lie in the range [0,1].
               The stddev value of 0.007 is based on experimental data 
               from a camera in a Sandia hand pointed at a static scene
               in a couple of different lighting conditions.  -->
          <mean>0.0</mean>
          <stddev>0.007</stddev>
        </noise>
      </camera>
      <plugin filename="libgazebo_ros_camera.so" name="l_hand_camera_controller">
        <alwaysOn>true</alwaysOn>
        <updateRate>0.0</updateRate>
        <cameraName>robotiq_hands/l_hand_camera</cameraName>
        <imageTopicName>image_raw</imageTopicName>
        <cameraInfoTopicName>camera_info</cameraInfoTopicName>
        <frameName>l_hand_camera_optical_frame</frameName>
        <hackBaseline>0.07</hackBaseline>
        <distortionK1>0.0</distortionK1>
        <distortionK2>0.0</distortionK2>
        <distortionK3>0.0</distortionK3>
        <distortionT1>0.0</distortionT1>
        <distortionT2>0.0</distortionT2>
      </plugin>
    </sensor>
  </gazebo>
  <joint name="r_hand_face_joint" type="fixed">
    <origin rpy="0.0 0.0 0.0" xyz="0 0.12 0"/>
    <parent link="r_hand_force_torque"/>
    <child link="r_hand_face"/>
  </joint>
  <link name="r_hand_face"/>
  <joint name="r_hand_gripper_joint" type="fixed">
    <origin rpy="0.0 0.0 0.0" xyz="0 0.18 0"/>
    <parent link="r_hand_force_torque"/>
    <child link="r_hand_gripper"/>
  </joint>
  <link name="r_hand_gripper"/>
  <link name="r_hand_camera_link"/>
  <joint name="r_hand_camera_joint" type="fixed">
    <parent link="r_hand_force_torque"/>
    <child link="r_hand_camera_link"/>
    <!-- new camera has no inward angle, placeholder is still here in case it is later tilted-->
    <origin rpy=" 1.57079 0  1.5708" xyz="0.09892  0.01431 0.0"/>
  </joint>
  <joint name="r_hand_camera_optical_frame_joint" type="fixed">
    <origin rpy="-1.57079 0.0 -1.57079" xyz="0 0 0"/>
    <parent link="r_hand_camera_link"/>
    <child link="r_hand_camera_optical_frame"/>
  </joint>
  <link name="r_hand_camera_optical_frame"/>
  <gazebo reference="r_hand_camera_link">
    <sensor name="r_hand_camera_sensor" type="camera">
      <update_rate>10.0</update_rate>
      <camera name="r_hand_camera">
        <pose>0 0 0 0 0 0</pose>
        <!-- m.antone estimate of 2.8mm tamron lense fov -->
        <horizontal_fov>1.7281</horizontal_fov>
        <image>
          <width>1280</width>
          <height>1024</height>
          <format>R8G8B8</format>
        </image>
        <clip>
          <near>0.02</near>
          <far>100</far>
        </clip>
        <noise>
          <type>gaussian</type>
          <!-- Noise is sampled independently per pixel on each frame.
               That pixel's noise value is added to each of its color
               channels, which at that point lie in the range [0,1].
               The stddev value of 0.007 is based on experimental data 
               from a camera in a Sandia hand pointed at a static scene
               in a couple of different lighting conditions.  -->
          <mean>0.0</mean>
          <stddev>0.007</stddev>
        </noise>
      </camera>
      <plugin filename="libgazebo_ros_camera.so" name="r_hand_camera_controller">
        <alwaysOn>true</alwaysOn>
        <updateRate>0.0</updateRate>
        <cameraName>robotiq_hands/r_hand_camera</cameraName>
        <imageTopicName>image_raw</imageTopicName>
        <cameraInfoTopicName>camera_info</cameraInfoTopicName>
        <frameName>r_hand_camera_optical_frame</frameName>
        <hackBaseline>0.07</hackBaseline>
        <distortionK1>0.0</distortionK1>
        <distortionK2>0.0</distortionK2>
        <distortionK3>0.0</distortionK3>
        <distortionT1>0.0</distortionT1>
        <distortionT2>0.0</distortionT2>
      </plugin>
    </sensor>
  </gazebo>
</robot>
